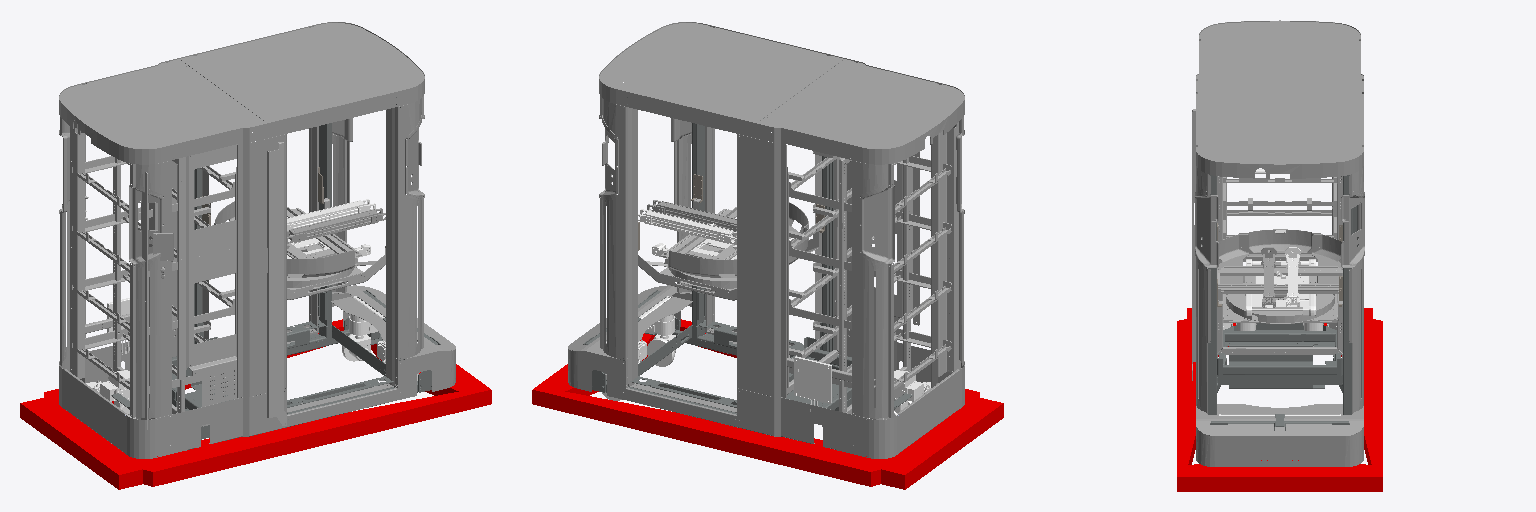
--- What the picture shows (computed from the rendered views, not written in the file) ---
Views: 3 orthographic renders of the robot side by side, from view 1: azimuth 30°, elevation 25°; view 2: azimuth 150°, elevation 25°; view 3: azimuth 270°, elevation 25°.
Model soto_2_0_description with 99 links and 98 joints (2 revolute, 12 continuous, 10 prismatic, 74 fixed), rooted at base_footprint, posed joints at zero except 7 at the middle of their limits (vertical_axis = 1.16, gripper_base_x = 0.1805, gripper_y_right = 0.25, gripper_y_left = 0.25, press_jaw = 0.1155, press_base_to_jaw_right = 0.1155, +1 more).
Visible links, largest first — view 1: design_elements_link, backpack_base_link, laser_field_link, manipulator_base_link, base_link, gripper_carrier_frame_link, backpack_layer_1_base_link, backpack_layer_3_base_link, gripper_casing_link, backpack_layer_0_base_link, conveyor_belt_right_base_link, backpack_layer_2_base_link (+3 smaller); view 2: design_elements_link, laser_field_link, backpack_base_link, manipulator_base_link, base_link, backpack_layer_2_base_link, backpack_layer_1_base_link, gripper_carrier_frame_link, backpack_layer_3_base_link, gripper_casing_link, backpack_layer_0_base_link, charger_connector (+4 smaller); view 3: design_elements_link, laser_field_link, base_link, manipulator_base_link, gripper_casing_link, backpack_base_link, gripper_carrier_frame_link, gripper_lateral_frame_link, gripper_base_link, backpack_layer_2_base_link, backpack_layer_1_base_link, conveyor_belt_left_base_link (+1 smaller).
Boxes of the visible links, x1,y1,x2,y2 form: design_elements_link: [59, 22, 455, 458]; backpack_base_link: [70, 121, 286, 429]; laser_field_link: [20, 319, 491, 489]; manipulator_base_link: [189, 66, 404, 419]; base_link: [111, 290, 440, 439]; gripper_carrier_frame_link: [287, 198, 385, 299]; backpack_layer_1_base_link: [72, 257, 234, 334]; backpack_layer_3_base_link: [72, 156, 235, 220]; gripper_casing_link: [214, 201, 354, 277]; backpack_layer_0_base_link: [72, 314, 227, 393]; conveyor_belt_right_base_link: [287, 208, 385, 243]; backpack_layer_2_base_link: [72, 197, 210, 276]; design_elements_link: [568, 22, 964, 458]; laser_field_link: [532, 319, 1003, 489]; backpack_base_link: [771, 122, 961, 419]; manipulator_base_link: [619, 66, 834, 420]; base_link: [583, 290, 912, 414]; backpack_layer_2_base_link: [789, 197, 951, 276]; backpack_layer_1_base_link: [789, 256, 951, 331]; gripper_carrier_frame_link: [638, 198, 820, 300]; backpack_layer_3_base_link: [788, 151, 951, 213]; gripper_casing_link: [669, 202, 808, 277]; backpack_layer_0_base_link: [789, 314, 951, 389]; charger_connector: [794, 356, 831, 411]; design_elements_link: [1195, 20, 1364, 466]; laser_field_link: [1177, 308, 1382, 491]; base_link: [1210, 323, 1349, 430]; manipulator_base_link: [1196, 92, 1357, 414]; gripper_casing_link: [1217, 229, 1342, 283]; backpack_base_link: [1192, 109, 1342, 380]; gripper_carrier_frame_link: [1219, 276, 1342, 323]; gripper_lateral_frame_link: [1217, 266, 1342, 295]; gripper_base_link: [1246, 259, 1315, 315]; backpack_layer_2_base_link: [1223, 177, 1336, 210]; backpack_layer_1_base_link: [1223, 210, 1336, 261]; conveyor_belt_left_base_link: [1286, 254, 1299, 307].
Bounding box of the posed robot: 2.52 × 1.3 × 2.16 m (x, y, z).
Meshes: 46 distinct files referenced, 50 mesh visuals loaded (38 binary STL); not drawn: 8 (reference not matched to a file when rendering).

The robot description file, URDF, robot "soto_2_0_description":
<?xml version="1.0" encoding="utf-8"?>
<!-- =================================================================================== -->
<!-- |    This document was autogenerated by xacro from description.xacro              | -->
<!-- |    EDITING THIS FILE BY HAND IS NOT RECOMMENDED                                 | -->
<!-- =================================================================================== -->
<robot name="soto_2_0_description">
  <joint name="pcw_fl_virtual" type="fixed">
    <origin rpy="0 0 0" xyz="0 0 0"/>
    <parent link="pcw_fl"/>
    <child link="pcw_fl_base_link"/>
  </joint>
  <link name="pcw_fl_base_link">
    <inertial>
      <origin rpy="0 0 0" xyz="0.068676 0.000080 0.060449"/>
      <mass value="5"/>
      <inertia ixx="0.01386833" ixy="0" ixz="0" iyy="0.02433708" iyz="0" izz="0.02455208"/>
    </inertial>
    <visual>
      <origin rpy="0 0 0" xyz="0 0 0"/>
      <geometry>
        <mesh filename="package://neobotix_pcw_description/meshes/pcw_base_link.STL"/>
      </geometry>
      <material name="">
        <color rgba="1 1 1 1"/>
      </material>
    </visual>
    <collision>
      <origin rpy="0 0 0" xyz="0.0525 0 0.064"/>
      <geometry>
        <box size="0.20500 0.12000 0.12800"/>
      </geometry>
    </collision>
  </link>
  <link name="pcw_fl_rotate_link">
    <inertial>
      <origin rpy="0 0 0" xyz="0 -0.013786 -0.098176"/>
      <mass value="4"/>
      <inertia ixx="0.01374714" ixy="0" ixz="0" iyy="0.01447043" iyz="0" izz="0.00734337"/>
    </inertial>
    <visual>
      <origin rpy="0 0 0" xyz="0 0 0"/>
      <geometry>
        <mesh filename="package://neobotix_pcw_description/meshes/pcw_rotate_link.STL"/>
      </geometry>
      <material name="">
        <color rgba="1 1 1 1"/>
      </material>
    </visual>
    <collision>
      <origin rpy="0 0 0" xyz="0 -0.013025 -0.107975"/>
      <geometry>
        <box size="0.11000 0.08400 0.1388"/>
      </geometry>
    </collision>
  </link>
  <joint name="fl_caster_rotation_joint" type="continuous">
    <origin rpy="0 0 -3.14159265358979" xyz="0.095 0 0"/>
    <parent link="pcw_fl_base_link"/>
    <child link="pcw_fl_rotate_link"/>
    <axis xyz="0 0 1"/>
  </joint>
  <link name="pcw_fl_wheel_link">
    <inertial>
      <origin rpy="0 0 0" xyz="0 0 0"/>
      <mass value="1"/>
      <inertia ixx="0.00209476" ixy="0.0" ixz="0.0" iyy="0.00403952" iyz="0.0" izz="0.00209476"/>
    </inertial>
    <visual>
      <origin rpy="0 0 0" xyz="0 0 0"/>
      <geometry>
        <mesh filename="package://neobotix_pcw_description/meshes/pcw_wheel_link.STL"/>
      </geometry>
      <material name="">
        <color rgba="1 1 1 1"/>
      </material>
    </visual>
    <collision>
      <origin rpy="1.57079632679 0 0" xyz="0 0 0"/>
      <geometry>
        <cylinder length="0.03" radius="0.0898835"/>
      </geometry>
    </collision>
  </link>
  <joint name="fl_caster_r_wheel_joint" type="continuous">
    <origin rpy="-9.63831971360485E-17 -2.77555756156289E-17 -9.28601314642794E-17" xyz="0 0.044649999999999 -0.12195"/>
    <parent link="pcw_fl_rotate_link"/>
    <child link="pcw_fl_wheel_link"/>
    <axis xyz="0 1 0"/>
  </joint>
  <joint name="pcw_fr_virtual" type="fixed">
    <origin rpy="0 0 0" xyz="0 0 0"/>
    <parent link="pcw_fr"/>
    <child link="pcw_fr_base_link"/>
  </joint>
  <link name="pcw_fr_base_link">
    <inertial>
      <origin rpy="0 0 0" xyz="0.068676 0.000080 0.060449"/>
      <mass value="5"/>
      <inertia ixx="0.01386833" ixy="0" ixz="0" iyy="0.02433708" iyz="0" izz="0.02455208"/>
    </inertial>
    <visual>
      <origin rpy="0 0 0" xyz="0 0 0"/>
      <geometry>
        <mesh filename="package://neobotix_pcw_description/meshes/pcw_base_link.STL"/>
      </geometry>
      <material name="">
        <color rgba="1 1 1 1"/>
      </material>
    </visual>
    <collision>
      <origin rpy="0 0 0" xyz="0.0525 0 0.064"/>
      <geometry>
        <box size="0.20500 0.12000 0.12800"/>
      </geometry>
    </collision>
  </link>
  <link name="pcw_fr_rotate_link">
    <inertial>
      <origin rpy="0 0 0" xyz="0 -0.013786 -0.098176"/>
      <mass value="4"/>
      <inertia ixx="0.01374714" ixy="0" ixz="0" iyy="0.01447043" iyz="0" izz="0.00734337"/>
    </inertial>
    <visual>
      <origin rpy="0 0 0" xyz="0 0 0"/>
      <geometry>
        <mesh filename="package://neobotix_pcw_description/meshes/pcw_rotate_link.STL"/>
      </geometry>
      <material name="">
        <color rgba="1 1 1 1"/>
      </material>
    </visual>
    <collision>
      <origin rpy="0 0 0" xyz="0 -0.013025 -0.107975"/>
      <geometry>
        <box size="0.11000 0.08400 0.1388"/>
      </geometry>
    </collision>
  </link>
  <joint name="fr_caster_rotation_joint" type="continuous">
    <origin rpy="0 0 -3.14159265358979" xyz="0.095 0 0"/>
    <parent link="pcw_fr_base_link"/>
    <child link="pcw_fr_rotate_link"/>
    <axis xyz="0 0 1"/>
  </joint>
  <link name="pcw_fr_wheel_link">
    <inertial>
      <origin rpy="0 0 0" xyz="0 0 0"/>
      <mass value="1"/>
      <inertia ixx="0.00209476" ixy="0.0" ixz="0.0" iyy="0.00403952" iyz="0.0" izz="0.00209476"/>
    </inertial>
    <visual>
      <origin rpy="0 0 0" xyz="0 0 0"/>
      <geometry>
        <mesh filename="package://neobotix_pcw_description/meshes/pcw_wheel_link.STL"/>
      </geometry>
      <material name="">
        <color rgba="1 1 1 1"/>
      </material>
    </visual>
    <collision>
      <origin rpy="1.57079632679 0 0" xyz="0 0 0"/>
      <geometry>
        <cylinder length="0.03" radius="0.0898835"/>
      </geometry>
    </collision>
  </link>
  <joint name="fr_caster_r_wheel_joint" type="continuous">
    <origin rpy="-9.63831971360485E-17 -2.77555756156289E-17 -9.28601314642794E-17" xyz="0 0.044649999999999 -0.12195"/>
    <parent link="pcw_fr_rotate_link"/>
    <child link="pcw_fr_wheel_link"/>
    <axis xyz="0 1 0"/>
  </joint>
  <joint name="pcw_bl_virtual" type="fixed">
    <origin rpy="0 0 0" xyz="0 0 0"/>
    <parent link="pcw_bl"/>
    <child link="pcw_bl_base_link"/>
  </joint>
  <link name="pcw_bl_base_link">
    <inertial>
      <origin rpy="0 0 0" xyz="0.068676 0.000080 0.060449"/>
      <mass value="5"/>
      <inertia ixx="0.01386833" ixy="0" ixz="0" iyy="0.02433708" iyz="0" izz="0.02455208"/>
    </inertial>
    <visual>
      <origin rpy="0 0 0" xyz="0 0 0"/>
      <geometry>
        <mesh filename="package://neobotix_pcw_description/meshes/pcw_base_link.STL"/>
      </geometry>
      <material name="">
        <color rgba="1 1 1 1"/>
      </material>
    </visual>
    <collision>
      <origin rpy="0 0 0" xyz="0.0525 0 0.064"/>
      <geometry>
        <box size="0.20500 0.12000 0.12800"/>
      </geometry>
    </collision>
  </link>
  <link name="pcw_bl_rotate_link">
    <inertial>
      <origin rpy="0 0 0" xyz="0 -0.013786 -0.098176"/>
      <mass value="4"/>
      <inertia ixx="0.01374714" ixy="0" ixz="0" iyy="0.01447043" iyz="0" izz="0.00734337"/>
    </inertial>
    <visual>
      <origin rpy="0 0 0" xyz="0 0 0"/>
      <geometry>
        <mesh filename="package://neobotix_pcw_description/meshes/pcw_rotate_link.STL"/>
      </geometry>
      <material name="">
        <color rgba="1 1 1 1"/>
      </material>
    </visual>
    <collision>
      <origin rpy="0 0 0" xyz="0 -0.013025 -0.107975"/>
      <geometry>
        <box size="0.11000 0.08400 0.1388"/>
      </geometry>
    </collision>
  </link>
  <joint name="bl_caster_rotation_joint" type="continuous">
    <origin rpy="0 0 -3.14159265358979" xyz="0.095 0 0"/>
    <parent link="pcw_bl_base_link"/>
    <child link="pcw_bl_rotate_link"/>
    <axis xyz="0 0 1"/>
  </joint>
  <link name="pcw_bl_wheel_link">
    <inertial>
      <origin rpy="0 0 0" xyz="0 0 0"/>
      <mass value="1"/>
      <inertia ixx="0.00209476" ixy="0.0" ixz="0.0" iyy="0.00403952" iyz="0.0" izz="0.00209476"/>
    </inertial>
    <visual>
      <origin rpy="0 0 0" xyz="0 0 0"/>
      <geometry>
        <mesh filename="package://neobotix_pcw_description/meshes/pcw_wheel_link.STL"/>
      </geometry>
      <material name="">
        <color rgba="1 1 1 1"/>
      </material>
    </visual>
    <collision>
      <origin rpy="1.57079632679 0 0" xyz="0 0 0"/>
      <geometry>
        <cylinder length="0.03" radius="0.0898835"/>
      </geometry>
    </collision>
  </link>
  <joint name="bl_caster_r_wheel_joint" type="continuous">
    <origin rpy="-9.63831971360485E-17 -2.77555756156289E-17 -9.28601314642794E-17" xyz="0 0.044649999999999 -0.12195"/>
    <parent link="pcw_bl_rotate_link"/>
    <child link="pcw_bl_wheel_link"/>
    <axis xyz="0 -1 0"/>
  </joint>
  <joint name="pcw_br_virtual" type="fixed">
    <origin rpy="0 0 0" xyz="0 0 0"/>
    <parent link="pcw_br"/>
    <child link="pcw_br_base_link"/>
  </joint>
  <link name="pcw_br_base_link">
    <inertial>
      <origin rpy="0 0 0" xyz="0.068676 0.000080 0.060449"/>
      <mass value="5"/>
      <inertia ixx="0.01386833" ixy="0" ixz="0" iyy="0.02433708" iyz="0" izz="0.02455208"/>
    </inertial>
    <visual>
      <origin rpy="0 0 0" xyz="0 0 0"/>
      <geometry>
        <mesh filename="package://neobotix_pcw_description/meshes/pcw_base_link.STL"/>
      </geometry>
      <material name="">
        <color rgba="1 1 1 1"/>
      </material>
    </visual>
    <collision>
      <origin rpy="0 0 0" xyz="0.0525 0 0.064"/>
      <geometry>
        <box size="0.20500 0.12000 0.12800"/>
      </geometry>
    </collision>
  </link>
  <link name="pcw_br_rotate_link">
    <inertial>
      <origin rpy="0 0 0" xyz="0 -0.013786 -0.098176"/>
      <mass value="4"/>
      <inertia ixx="0.01374714" ixy="0" ixz="0" iyy="0.01447043" iyz="0" izz="0.00734337"/>
    </inertial>
    <visual>
      <origin rpy="0 0 0" xyz="0 0 0"/>
      <geometry>
        <mesh filename="package://neobotix_pcw_description/meshes/pcw_rotate_link.STL"/>
      </geometry>
      <material name="">
        <color rgba="1 1 1 1"/>
      </material>
    </visual>
    <collision>
      <origin rpy="0 0 0" xyz="0 -0.013025 -0.107975"/>
      <geometry>
        <box size="0.11000 0.08400 0.1388"/>
      </geometry>
    </collision>
  </link>
  <joint name="br_caster_rotation_joint" type="continuous">
    <origin rpy="0 0 -3.14159265358979" xyz="0.095 0 0"/>
    <parent link="pcw_br_base_link"/>
    <child link="pcw_br_rotate_link"/>
    <axis xyz="0 0 1"/>
  </joint>
  <link name="pcw_br_wheel_link">
    <inertial>
      <origin rpy="0 0 0" xyz="0 0 0"/>
      <mass value="1"/>
      <inertia ixx="0.00209476" ixy="0.0" ixz="0.0" iyy="0.00403952" iyz="0.0" izz="0.00209476"/>
    </inertial>
    <visual>
      <origin rpy="0 0 0" xyz="0 0 0"/>
      <geometry>
        <mesh filename="package://neobotix_pcw_description/meshes/pcw_wheel_link.STL"/>
      </geometry>
      <material name="">
        <color rgba="1 1 1 1"/>
      </material>
    </visual>
    <collision>
      <origin rpy="1.57079632679 0 0" xyz="0 0 0"/>
      <geometry>
        <cylinder length="0.03" radius="0.0898835"/>
      </geometry>
    </collision>
  </link>
  <joint name="br_caster_r_wheel_joint" type="continuous">
    <origin rpy="-9.63831971360485E-17 -2.77555756156289E-17 -9.28601314642794E-17" xyz="0 0.044649999999999 -0.12195"/>
    <parent link="pcw_br_rotate_link"/>
    <child link="pcw_br_wheel_link"/>
    <axis xyz="0 -1 0"/>
  </joint>
  <link name="base_footprint"/>
  <joint name="base_footprint_to_base" type="fixed">
    <!-- TODO: align base_footprint to ground plane in 1015001 -->
    <origin rpy="0 0 0" xyz="0 0 0.1815"/>
    <parent link="base_footprint"/>
    <child link="base_link"/>
  </joint>
  <!-- start of autogenerated component -->
  <link name="base_link">
    <inertial>
      <origin rpy="0 0 0" xyz="-0.030858267467835 0.000734792595130519 -0.0262663159827579"/>
      <mass value="63.5292905960047"/>
      <inertia ixx="3.63597230656031" ixy="0.026575132004481" ixz="0.167726202587328" iyy="26.1224110628601" iyz="6.86288099105268E-05" izz="29.4697351846051"/>
    </inertial>
    <visual>
      <origin rpy="0 0 0" xyz="0 0 0"/>
      <geometry>
        <mesh filename="package://drive_base_soto_2_0_description/meshes/base_link.STL"/>
      </geometry>
      <material name="">
        <color rgba="0.529411764705882 0.549019607843137 0.549019607843137 1"/>
      </material>
    </visual>
    <collision>
      <origin rpy="0 0 0" xyz="0 0 0"/>
      <geometry>
        <mesh filename="package://drive_base_soto_2_0_description/meshes/base_link.STL"/>
      </geometry>
    </collision>
  </link>
  <link name="base_front_laser_link">
    <inertial>
      <origin rpy="0 0 0" xyz="-0.00302048772057795 -5.96143926624228E-05 0.0421733483270551"/>
      <mass value="1.31397168795335"/>
      <inertia ixx="0.000305638553073255" ixy="-9.97956652050864E-07" ixz="0.000141592688769949" iyy="0.000380355250516333" iyz="2.14415572558052E-06" izz="7.51377511329644E-05"/>
    </inertial>
    <visual>
      <origin rpy="0 0 0" xyz="0 0 0"/>
      <geometry>
        <mesh filename="package://drive_base_soto_2_0_description/meshes/base_front_laser_link.STL"/>
      </geometry>
      <material name="">
        <color rgba="1 1 1 1"/>
      </material>
    </visual>
    <collision>
      <origin rpy="0 0 0" xyz="0 0 0.0353"/>
      <geometry>
        <cylinder length="0.150512" radius="0.05"/>
      </geometry>
    </collision>
  </link>
  <joint name="base_to_front_laser" type="fixed">
    <origin rpy="3.14159265359 0 0" xyz="0.861737079408169 0 -0.0615749999999948"/>
    <parent link="base_link"/>
    <child link="base_front_laser_link"/>
    <axis xyz="0 0 0"/>
  </joint>
  <link name="base_rear_laser_right_link">
    <inertial>
      <origin rpy="0 0 0" xyz="-0.00302055406980495 -5.95917334884066E-05 0.0421734134136776"/>
      <mass value="1.31397215019182"/>
      <inertia ixx="0.000305637939313287" ixy="-9.98004178283187E-07" ixz="0.0001415922231505" iyy="0.000380354330003911" iyz="2.14425615271607E-06" izz="7.51374470666478E-05"/>
    </inertial>
    <visual>
      <origin rpy="0 0 0" xyz="0 0 0"/>
      <geometry>
        <mesh filename="package://drive_base_soto_2_0_description/meshes/base_rear_laser_right_link.STL"/>
      </geometry>
      <material name="">
        <color rgba="1 1 1 1"/>
      </material>
    </visual>
    <collision>
      <origin rpy="0 0 0" xyz="0 0 0.0353"/>
      <geometry>
        <cylinder length="0.150512" radius="0.05"/>
      </geometry>
    </collision>
  </link>
  <joint name="base_to_rear_right_laser" type="fixed">
    <origin rpy="3.14159265359 0 -2.35619449019234" xyz="-0.958782741924265 -0.36988960664894 -0.0615658394487754"/>
    <parent link="base_link"/>
    <child link="base_rear_laser_right_link"/>
    <axis xyz="0 0 0"/>
  </joint>
  <link name="base_rear_laser_left_link">
    <inertial>
      <origin rpy="0 0 0" xyz="-0.0030205540702416 -5.95917329817564E-05 0.0421734134135134"/>
      <mass value="1.31397215017044"/>
      <inertia ixx="0.00030563793931515" ixy="-9.98004179429839E-07" ixz="0.000141592223148923" iyy="0.000380354330003797" iyz="2.14425615513367E-06" izz="7.51374470647395E-05"/>
    </inertial>
    <visual>
      <origin rpy="0 0 0" xyz="0 0 0"/>
      <geometry>
        <mesh filename="package://drive_base_soto_2_0_description/meshes/base_rear_laser_left_link.STL"/>
      </geometry>
      <material name="">
        <color rgba="1 1 1 1"/>
      </material>
    </visual>
    <collision>
      <origin rpy="0 0 0" xyz="0 0 0.0353"/>
      <geometry>
        <cylinder length="0.150512" radius="0.05"/>
      </geometry>
    </collision>
  </link>
  <joint name="base_to_rear_left_laser" type="fixed">
    <origin rpy="3.14159265359 0 2.35619449019234" xyz="-0.958782747939142 0.369889600634062 -0.0615658394487751"/>
    <parent link="base_link"/>
    <child link="base_rear_laser_left_link"/>
    <axis xyz="0 0 0"/>
  </joint>
  <link name="pcw_bl">
    <!-- Assumes a (size, size, size) cube link -->
    <inertial>
      <origin xyz="0 0 0"/>
      <mass value="1"/>
      <inertia ixx="0.00166666666667" ixy="0" ixz="0" iyy="0.00166666666667" iyz="0" izz="0.00166666666667"/>
    </inertial>
  </link>
  <joint name="base_to_pcw_bl" type="fixed">
    <origin rpy="0 0 0" xyz="-0.916499999999999 0.2125 0.0304250000000063"/>
    <parent link="base_link"/>
    <child link="pcw_bl"/>
    <axis xyz="0 0 0"/>
  </joint>
  <link name="pcw_br">
    <!-- Assumes a (size, size, size) cube link -->
    <inertial>
      <origin xyz="0 0 0"/>
      <mass value="1"/>
      <inertia ixx="0.00166666666667" ixy="0" ixz="0" iyy="0.00166666666667" iyz="0" izz="0.00166666666667"/>
    </inertial>
  </link>
  <joint name="base_to_pcw_br" type="fixed">
    <origin rpy="0 0 -2.52323414687536E-16" xyz="-0.916499999999999 -0.2125 0.0304250000000063"/>
    <parent link="base_link"/>
    <child link="pcw_br"/>
    <axis xyz="0 0 0"/>
  </joint>
  <link name="pcw_fr">
    <!-- Assumes a (size, size, size) cube link -->
    <inertial>
      <origin xyz="0 0 0"/>
      <mass value="1"/>
      <inertia ixx="0.00166666666667" ixy="0" ixz="0" iyy="0.00166666666667" iyz="0" izz="0.00166666666667"/>
    </inertial>
  </link>
  <joint name="base_to_pcw_fr" type="fixed">
    <origin rpy="0 0 3.14159265358979" xyz="0.916499999999998 -0.280000000000002 0.0304250000000052"/>
    <parent link="base_link"/>
    <child link="pcw_fr"/>
    <axis xyz="0 0 0"/>
  </joint>
  <link name="pcw_fl">
    <!-- Assumes a (size, size, size) cube link -->
    <inertial>
      <origin xyz="0 0 0"/>
      <mass value="1"/>
      <inertia ixx="0.00166666666667" ixy="0" ixz="0" iyy="0.00166666666667" iyz="0" izz="0.00166666666667"/>
    </inertial>
  </link>
  <joint name="base_to_pcw_fl" type="fixed">
    <origin rpy="0 0 3.14159265358979" xyz="0.916499999999998 0.279999999999998 0.0304250000000052"/>
    <parent link="base_link"/>
    <child link="pcw_fl"/>
    <axis xyz="0 0 0"/>
  </joint>
  <link name="laser_field_link">
    <!-- Assumes a (size, size, size) cube link -->
    <inertial>
      <origin xyz="0 0 0"/>
      <mass value="1"/>
      <inertia ixx="0.00166666666667" ixy="0" ixz="0" iyy="0.00166666666667" iyz="0" izz="0.00166666666667"/>
    </inertial>
    <visual>
      <origin rpy="0 0 0" xyz="0 0 0"/>
      <geometry>
        <mesh filename="package://drive_base_soto_2_0_description/meshes/laser_field_link.STL"/>
      </geometry>
      <material name="">
        <color rgba="1 0 0 0.5"/>
      </material>
    </visual>
    <collision>
      <origin rpy="0 0 0" xyz="0 0 0"/>
      <geometry>
        <mesh filename="package://drive_base_soto_2_0_description/meshes/laser_field_link.STL"/>
      </geometry>
    </collision>
  </link>
  <joint name="base_to_laser_field" type="fixed">
    <origin rpy="0 0 0" xyz="0 0 0"/>
    <parent link="base_link"/>
    <child link="laser_field_link"/>
    <axis xyz="0 0 0"/>
  </joint>
  <joint name="manipulator_base_to_base_link" type="fixed">
    <origin rpy="0 0 0" xyz="0.2365 0 -0.0385"/>
    <parent link="base_link"/>
    <child link="manipulator_base_link"/>
  </joint>
  <link name="gripper_carrier_frame_link">
    <inertial>
      <origin rpy="0 0 0" xyz="0.419871261985957 -0.378092873023538 -0.172763052387008"/>
      <mass value="22.6544046182285"/>
      <inertia ixx="0.000978681072360067" ixy="5.36158454747139E-06" ixz="5.72288391326164E-05" iyy="0.212674313369314" iyz="-4.50383372113037E-05" izz="0.211729185697808"/>
    </inertial>
    <visual>
      <origin rpy="0 0 0" xyz="0 0 0"/>
      <geometry>
        <mesh filename="package://vertical_axis_soto_2_0_description/meshes/gripper_carrier_frame_link.STL"/>
      </geometry>
      <material name="">
        <color rgba="0.752941176470588 0.752941176470588 0.752941176470588 1"/>
      </material>
    </visual>
    <collision>
      <origin rpy="0 0 0" xyz="0 0 0"/>
      <geometry>
        <mesh filename="package://vertical_axis_soto_2_0_description/meshes/gripper_carrier_frame_link.STL"/>
      </geometry>
    </collision>
  </link>
  <joint name="vertical_axis_to_carrier_frame" type="fixed">
    <origin rpy="0 0 0" xyz="0 0 0.2565"/>
    <parent link="vertical_axis_link"/>
    <child link="gripper_carrier_frame_link"/>
  </joint>
  <!-- start of Optical frames -->
  <link name="nav_3d_cam_front_depth_optical_frame"/>
  <joint name="nav_3d_cam_front_depth_optical" type="fixed">
    <origin rpy="0 0 0" xyz="0 0 0"/>
    <parent link="nav_3d_cam_front_link"/>
    <child link="nav_3d_cam_front_depth_optical_frame"/>
  </joint>
  <link name="nav_3d_cam_front_rgb_optical_frame"/>
  <joint name="nav_3d_cam_front_rgb_optical" type="fixed">
    <origin rpy="0 0 0" xyz="0.0145 0 0"/>
    <parent link="nav_3d_cam_front_link"/>
    <child link="nav_3d_cam_front_rgb_optical_frame"/>
  </joint>
  <!-- Start of autogenerated component -->
  <link name="manipulator_base_link">
    <inertial>
      <origin rpy="0 0 0" xyz="0.0140831490754253 -0.0103314828835449 1.03628074208567"/>
      <mass value="49.4957057836692"/>
      <inertia ixx="28.4337696303107" ixy="0.170730173040725" ixz="0.770352253194218" iyy="27.3913289655028" iyz="0.419406036104634" izz="15.9885561853555"/>
    </inertial>
    <visual>
      <origin rpy="0 0 0" xyz="0 0 0"/>
      <geometry>
        <mesh filename="package://vertical_axis_soto_2_0_description/meshes/manipulator_base_link.STL"/>
      </geometry>
      <material name="">
        <color rgba="0.529411764705882 0.549019607843137 0.549019607843137 1"/>
      </material>
    </visual>
    <collision>
      <origin rpy="0 0 0" xyz="0 0 0"/>
      <geometry>
        <mesh filename="package://vertical_axis_soto_2_0_description/meshes/manipulator_base_link.STL"/>
      </geometry>
    </collision>
  </link>
  <link name="vertical_axis_link">
    <inertial>
      <origin rpy="0 0 0" xyz="0.420000000000104 -0.147165343803046 0.0668738949005537"/>
      <mass value="4.67274949695533"/>
      <inertia ixx="0.605491366340649" ixy="-1.6991963391888E-13" ixz="2.22521653880925E-14" iyy="0.756041439643056" iyz="-0.0117324984712755" izz="1.35863466880556"/>
    </inertial>
    <visual>
      <origin rpy="0 0 0" xyz="0 0 0.2565"/>
      <geometry>
        <mesh filename="package://vertical_axis_soto_2_0_description/meshes/vertical_axis_link.STL"/>
      </geometry>
      <material name="">
        <color rgba="0.647058823529412 0.619607843137255 0.588235294117647 1"/>
      </material>
    </visual>
    <collision>
      <origin rpy="0 0 0" xyz="0 0 0.2565"/>
      <geometry>
        <mesh filename="package://vertical_axis_soto_2_0_description/meshes/vertical_axis_link.STL"/>
      </geometry>
    </collision>
  </link>
  <joint name="vertical_axis" type="prismatic">
    <origin rpy="0 0 0" xyz="-0.420000000000075 0.381609999999924 -0.488"/>
    <parent link="manipulator_base_link"/>
    <child link="vertical_axis_link"/>
    <axis xyz="0 0 1"/>
    <limit effort="1368.21" lower="0.355" upper="1.968" velocity="0.322917"/>
  </joint>
  <link name="nav_3d_cam_front_link">
    <!-- Assumes a (size, size, size) cube link -->
    <inertial>
      <origin xyz="0 0 0"/>
      <mass value="0.018"/>
      <inertia ixx="3e-05" ixy="0" ixz="0" iyy="3e-05" iyz="0" izz="3e-05"/>
    </inertial>
  </link>
  <joint name="nav_3d_cam_front" type="fixed">
    <origin rpy="-2.50454747661185 0 -1.57079632679489" xyz="0.673539512035944 0.00661000000000513 1.92628520157743"/>
    <parent link="manipulator_base_link"/>
    <child link="nav_3d_cam_front_link"/>
    <axis xyz="0 0 0"/>
  </joint>
  <link name="light_curtain_receiver_front_link">
    <inertial>
      <origin rpy="0 0 0" xyz="-0.0134506399940098 0.000460652545141254 1.37200510917923E-05"/>
      <mass value="0.639593835683051"/>
      <inertia ixx="0.03084176" ixy="0" ixz="0" iyy="0.00013446" iyz="0" izz="0.03082808"/>
    </inertial>
    <visual>
      <origin rpy="0 0 0" xyz="0 0 0"/>
      <geometry>
        <mesh filename="package://vertical_axis_soto_2_0_description/meshes/light_curtain_receiver_front_link.STL"/>
      </geometry>
      <material name="">
        <color rgba="1 1 1 1"/>
      </material>
    </visual>
    <collision>
      <origin rpy="0 0 0" xyz="0 0 0"/>
      <geometry>
        <mesh filename="package://vertical_axis_soto_2_0_description/meshes/light_curtain_receiver_front_link.STL"/>
      </geometry>
    </collision>
  </link>
  <joint name="manipulator_base_to_receiver_front" type="fixed">
    <origin rpy="3.14159265358979 -1.5707963267949 0" xyz="0.612816314445163 0.00230001773507929 0.247218554241161"/>
    <parent link="manipulator_base_link"/>
    <child link="light_curtain_receiver_front_link"/>
    <axis xyz="0 0 0"/>
  </joint>
  <link name="light_curtain_emitter_front_link">
    <inertial>
      <origin rpy="0 0 0" xyz="-0.0134507091493998 -5.86724921519569E-05 1.27766254944817E-05"/>
      <mass value="0.639590567420819"/>
      <inertia ixx="0.03084176" ixy="0" ixz="0" iyy="0.00013446" iyz="0" izz="0.03082808"/>
    </inertial>
    <visual>
      <origin rpy="0 0 0" xyz="0 0 0"/>
      <geometry>
        <mesh filename="package://vertical_axis_soto_2_0_description/meshes/light_curtain_emitter_front_link.STL"/>
      </geometry>
      <material name="">
        <color rgba="1 1 1 1"/>
      </material>
    </visual>
    <collision>
      <origin rpy="0 0 0" xyz="0 0 0"/>
      <geometry>
        <mesh filename="package://vertical_axis_soto_2_0_description/meshes/light_curtain_emitter_front_link.STL"/>
      </geometry>
    </collision>
  </link>
  <joint name="manipulator_base_to_emitter_front" type="fixed">
    <origin rpy="-0.0336671572796617 1.57079631189374 3.10792549631013" xyz="0.613000000420853 0.00399206214091707 1.92309999999978"/>
    <parent link="manipulator_base_link"/>
    <child link="light_curtain_emitter_front_link"/>
    <axis xyz="0 0 0"/>
  </joint>
  <link name="light_curtain_receiver_left_link">
    <inertial>
      <origin rpy="0 0 0" xyz="-0.0134506399940099 0.000460652545142018 1.37200510916813E-05"/>
      <mass value="0.639593835683055"/>
      <inertia ixx="0.03084176" ixy="0" ixz="0" iyy="0.00013446" iyz="0" izz="0.03082808"/>
    </inertial>
    <visual>
      <origin rpy="0 0 0" xyz="0 0 0"/>
      <geometry>
        <mesh filename="package://vertical_axis_soto_2_0_description/meshes/light_curtain_receiver_left_link.STL"/>
      </geometry>
      <material name="">
        <color rgba="1 1 1 1"/>
      </material>
    </visual>
    <collision>
      <origin rpy="0 0 0" xyz="0 0 0"/>
      <geometry>
        <mesh filename="package://vertical_axis_soto_2_0_description/meshes/light_curtain_receiver_left_link.STL"/>
      </geometry>
    </collision>
  </link>
  <joint name="manipulator_base_to_receiver_left" type="fixed">
    <origin rpy="1.57079632679501 -1.5707963267949 0" xyz="0.0013599822863284 0.507000941267109 0.0620098761376573"/>
    <parent link="manipulator_base_link"/>
    <child link="light_curtain_receiver_left_link"/>
    <axis xyz="0 0 0"/>
  </joint>
  <link name="light_curtain_emitter_left_link">
    <inertial>
      <origin rpy="0 0 0" xyz="-0.0134507091493994 -5.8672492154189E-05 1.27766254947037E-05"/>
      <mass value="0.639590567420818"/>
      <inertia ixx="0.03084176" ixy="0" ixz="0" iyy="0.00013446" iyz="0" izz="0.03082808"/>
    </inertial>
    <visual>
      <origin rpy="0 0 0" xyz="0 0 0"/>
      <geometry>
        <mesh filename="package://vertical_axis_soto_2_0_description/meshes/light_curtain_emitter_left_link.STL"/>
      </geometry>
      <material name="">
        <color rgba="1 1 1 1"/>
      </material>
    </visual>
    <collision>
      <origin rpy="0 0 0" xyz="0 0 0"/>
      <geometry>
        <mesh filename="package://vertical_axis_soto_2_0_description/meshes/light_curtain_emitter_left_link.STL"/>
      </geometry>
    </collision>
  </link>
  <joint name="manipulator_base_to_emitter_left" type="fixed">
    <origin rpy="1.5707963267949 1.5707963267949 0" xyz="0.000842062140590042 0.50701000012157 1.92299012386215"/>
    <parent link="manipulator_base_link"/>
    <child link="light_curtain_emitter_left_link"/>
    <axis xyz="0 0 0"/>
  </joint>
  <link name="light_curtain_receiver_right_link">
    <inertial>
      <origin rpy="0 0 0" xyz="-0.0134506399940099 0.000460652545141308 1.37200510919033E-05"/>
      <mass value="0.639593835683049"/>
      <inertia ixx="0.03084176" ixy="0" ixz="0" iyy="0.00013446" iyz="0" izz="0.03082808"/>
    </inertial>
    <visual>
      <origin rpy="0 0 0" xyz="0 0 0"/>
      <geometry>
        <mesh filename="package://vertical_axis_soto_2_0_description/meshes/light_curtain_receiver_right_link.STL"/>
      </geometry>
      <material name="">
        <color rgba="1 1 1 1"/>
      </material>
    </visual>
    <collision>
      <origin rpy="0 0 0" xyz="0 0 0"/>
      <geometry>
        <mesh filename="package://vertical_axis_soto_2_0_description/meshes/light_curtain_receiver_right_link.STL"/>
      </geometry>
    </collision>
  </link>
  <joint name="manipulator_base_to_receiver_right" type="fixed">
    <origin rpy="0.032557324725479 -1.57079630572147 1.53823900206941" xyz="0.00125998228584711 -0.49899905903031 0.0620098761378208"/>
    <parent link="manipulator_base_link"/>
    <child link="light_curtain_receiver_right_link"/>
    <axis xyz="0 0 0"/>
  </joint>
  <link name="light_curtain_emitter_right_link">
    <inertial>
      <origin rpy="0 0 0" xyz="-0.0134507091493998 -5.86724921541233E-05 1.27766254945927E-05"/>
      <mass value="0.639590567420825"/>
      <inertia ixx="0.03084176" ixy="0" ixz="0" iyy="0.00013446" iyz="0" izz="0.03082808"/>
    </inertial>
    <visual>
      <origin rpy="0 0 0" xyz="0 0 0"/>
      <geometry>
        <mesh filename="package://vertical_axis_soto_2_0_description/meshes/light_curtain_emitter_right_link.STL"/>
      </geometry>
      <material name="">
        <color rgba="1 1 1 1"/>
      </material>
    </visual>
    <collision>
      <origin rpy="0 0 0" xyz="0 0 0"/>
      <geometry>
        <mesh filename="package://vertical_axis_soto_2_0_description/meshes/light_curtain_emitter_right_link.STL"/>
      </geometry>
    </collision>
  </link>
  <joint name="manipulator_base_to_emitter_right" type="fixed">
    <origin rpy="1.5707963267949 1.5707963267949 0" xyz="0.00074206213964603 -0.499000000420611 1.92299012386212"/>
    <parent link="manipulator_base_link"/>
    <child link="light_curtain_emitter_right_link"/>
    <axis xyz="0 0 0"/>
  </joint>
  <joint name="backpack_base_to_base_link" type="fixed">
    <origin rpy="0 0 0" xyz="-0.294 0 0.0885"/>
    <parent link="base_link"/>
    <child link="backpack_base_link"/>
  </joint>
  <!-- use index to uniquely identify all joints and links  -->
  <link name="backpack_layer_0_base_link">
    <inertial>
      <origin rpy="0 0 0" xyz="-0.288351 0 -0.056443"/>
      <mass value="5"/>
      <inertia ixx="0.25636833" ixy="0" ixz="0" iyy="0.30238167" iyz="0" izz="0.55041667"/>
    </inertial>
    <visual>
      <origin rpy="0 0 0" xyz="0 0 0"/>
      <geometry>
        <mesh filename="package://backpack_soto_4_0_description/meshes/layer_base_link.STL"/>
      </geometry>
      <material name="">
        <color rgba="0.752941176470588 0.752941176470588 0.752941176470588 1"/>
      </material>
    </visual>
    <collision>
      <origin rpy="0 0 0" xyz="0 0 0"/>
      <geometry>
        <mesh filename="package://backpack_soto_4_0_description/meshes/layer_base_link.STL"/>
      </geometry>
    </collision>
  </link>
  <!-- left reference exists for both single and double compartments -->
  <link name="backpack_layer_0_left_reference_link"/>
  <joint name="backpack_layer_0_base_to_left_reference" type="fixed">
    <origin rpy="0 0 0" xyz="0.1286 -0.185 -0.0236"/>
    <parent link="backpack_layer_0_base_link"/>
    <child link="backpack_layer_0_left_reference_link"/>
    <axis xyz="0 0 0"/>
  </joint>
  <!-- create right reference-->
  <link name="backpack_layer_0_right_reference_link"/>
  <joint name="backpack_layer_0_base_to_right_reference" type="fixed">
    <origin rpy="0 0 0" xyz="0.1286 0.185 -0.0236"/>
    <parent link="backpack_layer_0_base_link"/>
    <child link="backpack_layer_0_right_reference_link"/>
    <axis xyz="0 0 0"/>
  </joint>
  <link name="backpack_layer_0_compartment_0_link">
    <inertial>
      <origin rpy="0 0 0" xyz="-0.1675 0 0.0675"/>
      <mass value="5"/>
      <inertia ixx="0.0476354166667" ixy="0" ixz="0" iyy="0.0543541666667" iyz="0" izz="0.0868020833333"/>
    </inertial>
    <collision>
      <!-- Bottom -->
      <origin rpy="0 0 0" xyz="-0.1675 0 -0.0025"/>
      <geometry>
        <box size="0.335 0.31 0.005"/>
      </geometry>
    </collision>
    <collision>
      <!-- Back wall -->
      <origin rpy="0 0 0" xyz="-0.3375 0 0.025"/>
      <geometry>
        <box size="0.005 0.31 0.05"/>
      </geometry>
    </collision>
    <collision>
      <!-- Right wall -->
      <origin rpy="0 0 0" xyz="-0.2015 -0.1575 0.025"/>
      <geometry>
        <box size="0.267 0.005 0.05"/>
      </geometry>
    </collision>
    <collision>
      <!-- Left wall -->
      <origin rpy="0 0 0" xyz="-0.2015 0.1575 0.025"/>
      <geometry>
        <box size="0.267 0.005 0.05"/>
      </geometry>
    </collision>
    <collision>
      <!-- Left stopper bottom -->
      <origin rpy="0 0 0" xyz="0.05 0 -0.0025"/>
      <geometry>
        <box size="0.1 0.03 0.005"/>
      </geometry>
    </collision>
    <collision>
      <!-- Left stopper wall -->
      <origin rpy="0 0 0" xyz="0.1025 0 0.0095"/>
      <geometry>
        <box size="0.005 0.03 0.019"/>
      </geometry>
    </collision>
    <collision>
      <!-- Right funnel -->
      <origin rpy="0 0 -0.335" xyz="-0.0356438458494 -0.16853917755 0.0675"/>
      <geometry>
        <box size="0.068 0.005 0.135"/>
      </geometry>
    </collision>
    <collision>
      <!-- Left funnel -->
      <origin rpy="0 0 0.335" xyz="-0.0356438458494 0.16853917755 0.0675"/>
      <geometry>
        <box size="0.068 0.005 0.135"/>
      </geometry>
    </collision>
  </link>
  <joint name="backpack_layer_0_compartment_0" type="fixed">
    <origin rpy="0 0 0" xyz="-0.1055 0 -0.004"/>
    <parent link="backpack_layer_0_left_reference_link"/>
    <child link="backpack_layer_0_compartment_0_link"/>
  </joint>
  <link name="backpack_layer_0_compartment_1_link">
    <inertial>
      <origin rpy="0 0 0" xyz="-0.3675 0 0.0675"/>
      <mass value="5"/>
      <inertia ixx="0.0476354166667" ixy="0" ixz="0" iyy="0.2326875" iyz="0" izz="0.265135416667"/>
    </inertial>
    <collision>
      <!-- Bottom -->
      <origin rpy="0 0 0" xyz="-0.3675 0 -0.0025"/>
      <geometry>
        <box size="0.735 0.31 0.005"/>
      </geometry>
    </collision>
    <collision>
      <!-- Back wall -->
      <origin rpy="0 0 0" xyz="-0.7375 0 0.025"/>
      <geometry>
        <box size="0.005 0.31 0.05"/>
      </geometry>
    </collision>
    <collision>
      <!-- Right wall -->
      <origin rpy="0 0 0" xyz="-0.4015 -0.1575 0.025"/>
      <geometry>
        <box size="0.667 0.005 0.05"/>
      </geometry>
    </collision>
    <collision>
      <!-- Left wall -->
      <origin rpy="0 0 0" xyz="-0.4015 0.1575 0.025"/>
      <geometry>
        <box size="0.667 0.005 0.05"/>
      </geometry>
    </collision>
    <collision>
      <!-- Left stopper bottom -->
      <origin rpy="0 0 0" xyz="0.05 0 -0.0025"/>
      <geometry>
        <box size="0.1 0.03 0.005"/>
      </geometry>
    </collision>
    <collision>
      <!-- Left stopper wall -->
      <origin rpy="0 0 0" xyz="0.1025 0 0.0095"/>
      <geometry>
        <box size="0.005 0.03 0.019"/>
      </geometry>
    </collision>
    <collision>
      <!-- Right funnel -->
      <origin rpy="0 0 -0.335" xyz="-0.0356438458494 -0.16853917755 0.0675"/>
      <geometry>
        <box size="0.068 0.005 0.135"/>
      </geometry>
    </collision>
    <collision>
      <!-- Left funnel -->
      <origin rpy="0 0 0.335" xyz="-0.0356438458494 0.16853917755 0.0675"/>
      <geometry>
        <box size="0.068 0.005 0.135"/>
      </geometry>
    </collision>
  </link>
  <joint name="backpack_layer_0_compartment_1" type="fixed">
    <origin rpy="0 0 0" xyz="-0.1055 0 -0.004"/>
    <parent link="backpack_layer_0_right_reference_link"/>
    <child link="backpack_layer_0_compartment_1_link"/>
  </joint>
  <!-- Connection between layer and pivot bar -->
  <joint name="backpack_layer_0_base_pivot" type="continuous">
    <parent link="backpack_layer_0_link"/>
    <child link="backpack_layer_0_base_link"/>
    <axis xyz="0 1 0"/>
    <mimic joint="backpack_tilt" multiplier="1.0"/>
  </joint>
  <!-- use index to uniquely identify all joints and links  -->
  <link name="backpack_layer_1_base_link">
    <inertial>
      <origin rpy="0 0 0" xyz="-0.288351 0 -0.056443"/>
      <mass value="5"/>
      <inertia ixx="0.25636833" ixy="0" ixz="0" iyy="0.30238167" iyz="0" izz="0.55041667"/>
    </inertial>
    <visual>
      <origin rpy="0 0 0" xyz="0 0 0"/>
      <geometry>
        <mesh filename="package://backpack_soto_4_0_description/meshes/layer_base_link.STL"/>
      </geometry>
      <material name="">
        <color rgba="0.752941176470588 0.752941176470588 0.752941176470588 1"/>
      </material>
    </visual>
    <collision>
      <origin rpy="0 0 0" xyz="0 0 0"/>
      <geometry>
        <mesh filename="package://backpack_soto_4_0_description/meshes/layer_base_link.STL"/>
      </geometry>
    </collision>
  </link>
  <!-- left reference exists for both single and double compartments -->
  <link name="backpack_layer_1_left_reference_link"/>
  <joint name="backpack_layer_1_base_to_left_reference" type="fixed">
    <origin rpy="0 0 0" xyz="0.1286 -0.185 -0.0236"/>
    <parent link="backpack_layer_1_base_link"/>
    <child link="backpack_layer_1_left_reference_link"/>
    <axis xyz="0 0 0"/>
  </joint>
  <!-- create right reference-->
  <link name="backpack_layer_1_right_reference_link"/>
  <joint name="backpack_layer_1_base_to_right_reference" type="fixed">
    <origin rpy="0 0 0" xyz="0.1286 0.185 -0.0236"/>
    <parent link="backpack_layer_1_base_link"/>
    <child link="backpack_layer_1_right_reference_link"/>
    <axis xyz="0 0 0"/>
  </joint>
  <link name="backpack_layer_1_compartment_0_link">
    <inertial>
      <origin rpy="0 0 0" xyz="-0.3675 0 0.0675"/>
      <mass value="5"/>
      <inertia ixx="0.0476354166667" ixy="0" ixz="0" iyy="0.2326875" iyz="0" izz="0.265135416667"/>
    </inertial>
    <collision>
      <!-- Bottom -->
      <origin rpy="0 0 0" xyz="-0.3675 0 -0.0025"/>
      <geometry>
        <box size="0.735 0.31 0.005"/>
      </geometry>
    </collision>
    <collision>
      <!-- Back wall -->
      <origin rpy="0 0 0" xyz="-0.7375 0 0.025"/>
      <geometry>
        <box size="0.005 0.31 0.05"/>
      </geometry>
    </collision>
    <collision>
      <!-- Right wall -->
      <origin rpy="0 0 0" xyz="-0.4015 -0.1575 0.025"/>
      <geometry>
        <box size="0.667 0.005 0.05"/>
      </geometry>
    </collision>
    <collision>
      <!-- Left wall -->
      <origin rpy="0 0 0" xyz="-0.4015 0.1575 0.025"/>
      <geometry>
        <box size="0.667 0.005 0.05"/>
      </geometry>
    </collision>
    <collision>
      <!-- Left stopper bottom -->
      <origin rpy="0 0 0" xyz="0.05 0 -0.0025"/>
      <geometry>
        <box size="0.1 0.03 0.005"/>
      </geometry>
    </collision>
    <collision>
      <!-- Left stopper wall -->
      <origin rpy="0 0 0" xyz="0.1025 0 0.0095"/>
      <geometry>
        <box size="0.005 0.03 0.019"/>
      </geometry>
    </collision>
    <collision>
      <!-- Right funnel -->
      <origin rpy="0 0 -0.335" xyz="-0.0356438458494 -0.16853917755 0.0675"/>
      <geometry>
        <box size="0.068 0.005 0.135"/>
      </geometry>
    </collision>
    <collision>
      <!-- Left funnel -->
      <origin rpy="0 0 0.335" xyz="-0.0356438458494 0.16853917755 0.0675"/>
      <geometry>
        <box size="0.068 0.005 0.135"/>
      </geometry>
    </collision>
  </link>
  <joint name="backpack_layer_1_compartment_0" type="fixed">
    <origin rpy="0 0 0" xyz="-0.1055 0 -0.004"/>
    <parent link="backpack_layer_1_left_reference_link"/>
    <child link="backpack_layer_1_compartment_0_link"/>
  </joint>
  <link name="backpack_layer_1_compartment_1_link">
    <inertial>
      <origin rpy="0 0 0" xyz="-0.3675 0 0.0675"/>
      <mass value="5"/>
      <inertia ixx="0.0476354166667" ixy="0" ixz="0" iyy="0.2326875" iyz="0" izz="0.265135416667"/>
    </inertial>
    <collision>
      <!-- Bottom -->
      <origin rpy="0 0 0" xyz="-0.3675 0 -0.0025"/>
      <geometry>
        <box size="0.735 0.31 0.005"/>
      </geometry>
    </collision>
    <collision>
      <!-- Back wall -->
      <origin rpy="0 0 0" xyz="-0.7375 0 0.025"/>
      <geometry>
        <box size="0.005 0.31 0.05"/>
      </geometry>
    </collision>
    <collision>
      <!-- Right wall -->
      <origin rpy="0 0 0" xyz="-0.4015 -0.1575 0.025"/>
      <geometry>
        <box size="0.667 0.005 0.05"/>
      </geometry>
    </collision>
    <collision>
      <!-- Left wall -->
      <origin rpy="0 0 0" xyz="-0.4015 0.1575 0.025"/>
      <geometry>
        <box size="0.667 0.005 0.05"/>
      </geometry>
    </collision>
    <collision>
      <!-- Left stopper bottom -->
      <origin rpy="0 0 0" xyz="0.05 0 -0.0025"/>
      <geometry>
        <box size="0.1 0.03 0.005"/>
      </geometry>
    </collision>
    <collision>
      <!-- Left stopper wall -->
      <origin rpy="0 0 0" xyz="0.1025 0 0.0095"/>
      <geometry>
        <box size="0.005 0.03 0.019"/>
      </geometry>
    </collision>
    <collision>
      <!-- Right funnel -->
      <origin rpy="0 0 -0.335" xyz="-0.0356438458494 -0.16853917755 0.0675"/>
      <geometry>
        <box size="0.068 0.005 0.135"/>
      </geometry>
    </collision>
    <collision>
      <!-- Left funnel -->
      <origin rpy="0 0 0.335" xyz="-0.0356438458494 0.16853917755 0.0675"/>
      <geometry>
        <box size="0.068 0.005 0.135"/>
      </geometry>
    </collision>
  </link>
  <joint name="backpack_layer_1_compartment_1" type="fixed">
    <origin rpy="0 0 0" xyz="-0.1055 0 -0.004"/>
    <parent link="backpack_layer_1_right_reference_link"/>
    <child link="backpack_layer_1_compartment_1_link"/>
  </joint>
  <!-- Connection between layer and pivot bar -->
  <joint name="backpack_layer_1_base_pivot" type="continuous">
    <parent link="backpack_layer_1_link"/>
    <child link="backpack_layer_1_base_link"/>
    <axis xyz="0 1 0"/>
    <mimic joint="backpack_tilt" multiplier="1.0"/>
  </joint>
  <!-- use index to uniquely identify all joints and links  -->
  <link name="backpack_layer_2_base_link">
    <inertial>
      <origin rpy="0 0 0" xyz="-0.288351 0 -0.056443"/>
      <mass value="5"/>
      <inertia ixx="0.25636833" ixy="0" ixz="0" iyy="0.30238167" iyz="0" izz="0.55041667"/>
    </inertial>
    <visual>
      <origin rpy="0 0 0" xyz="0 0 0"/>
      <geometry>
        <mesh filename="package://backpack_soto_4_0_description/meshes/layer_base_link.STL"/>
      </geometry>
      <material name="">
        <color rgba="0.752941176470588 0.752941176470588 0.752941176470588 1"/>
      </material>
    </visual>
    <collision>
      <origin rpy="0 0 0" xyz="0 0 0"/>
      <geometry>
        <mesh filename="package://backpack_soto_4_0_description/meshes/layer_base_link.STL"/>
      </geometry>
    </collision>
  </link>
  <!-- left reference exists for both single and double compartments -->
  <link name="backpack_layer_2_left_reference_link"/>
  <joint name="backpack_layer_2_base_to_left_reference" type="fixed">
    <origin rpy="0 0 0" xyz="0.1286 -0.185 -0.0236"/>
    <parent link="backpack_layer_2_base_link"/>
    <child link="backpack_layer_2_left_reference_link"/>
    <axis xyz="0 0 0"/>
  </joint>
  <link name="backpack_layer_2_compartment_0_link">
    <inertial>
      <origin rpy="0 0 0" xyz="-0.3675 0 0.0675"/>
      <mass value="5"/>
      <inertia ixx="0.162635416667" ixy="0" ixz="0" iyy="0.2326875" iyz="0" izz="0.380135416667"/>
    </inertial>
    <collision>
      <!-- Bottom -->
      <origin rpy="0 0 0" xyz="-0.3675 0 -0.0025"/>
      <geometry>
        <box size="0.735 0.61 0.005"/>
      </geometry>
    </collision>
    <collision>
      <!-- Back wall -->
      <origin rpy="0 0 0" xyz="-0.7375 0 0.025"/>
      <geometry>
        <box size="0.005 0.61 0.05"/>
      </geometry>
    </collision>
    <collision>
      <!-- Right wall -->
      <origin rpy="0 0 0" xyz="-0.4015 -0.3075 0.025"/>
      <geometry>
        <box size="0.667 0.005 0.05"/>
      </geometry>
    </collision>
    <collision>
      <!-- Left wall -->
      <origin rpy="0 0 0" xyz="-0.4015 0.3075 0.025"/>
      <geometry>
        <box size="0.667 0.005 0.05"/>
      </geometry>
    </collision>
    <collision>
      <!-- Left stopper bottom -->
      <origin rpy="0 0 0" xyz="0.05 0.185 -0.0025"/>
      <geometry>
        <box size="0.1 0.03 0.005"/>
      </geometry>
    </collision>
    <collision>
      <!-- Left stopper wall -->
      <origin rpy="0 0 0" xyz="0.1025 0.185 0.0095"/>
      <geometry>
        <box size="0.005 0.03 0.019"/>
      </geometry>
    </collision>
    <collision>
      <!-- Right stopper bottom -->
      <origin rpy="0 0 0" xyz="0.05 -0.185 -0.0025"/>
      <geometry>
        <box size="0.1 0.03 0.005"/>
      </geometry>
    </collision>
    <collision>
      <!-- Right stopper wall -->
      <origin rpy="0 0 0" xyz="0.1025 -0.185 0.0095"/>
      <geometry>
        <box size="0.005 0.03 0.019"/>
      </geometry>
    </collision>
    <collision>
      <!-- Right funnel -->
      <origin rpy="0 0 -0.335" xyz="-0.0356438458494 -0.31853917755 0.0675"/>
      <geometry>
        <box size="0.068 0.005 0.135"/>
      </geometry>
    </collision>
    <collision>
      <!-- Left funnel -->
      <origin rpy="0 0 0.335" xyz="-0.0356438458494 0.31853917755 0.0675"/>
      <geometry>
        <box size="0.068 0.005 0.135"/>
      </geometry>
    </collision>
  </link>
  <joint name="backpack_layer_2_compartment_0" type="fixed">
    <origin rpy="0 0 0" xyz="-0.1055 0.185 -0.004"/>
    <parent link="backpack_layer_2_left_reference_link"/>
    <child link="backpack_layer_2_compartment_0_link"/>
  </joint>
  <!-- Connection between layer and pivot bar -->
  <joint name="backpack_layer_2_base_pivot" type="continuous">
    <parent link="backpack_layer_2_link"/>
    <child link="backpack_layer_2_base_link"/>
    <axis xyz="0 1 0"/>
    <mimic joint="backpack_tilt" multiplier="1.0"/>
  </joint>
  <!-- use index to uniquely identify all joints and links  -->
  <link name="backpack_layer_3_base_link">
    <inertial>
      <origin rpy="0 0 0" xyz="-0.288351 0 -0.056443"/>
      <mass value="5"/>
      <inertia ixx="0.25636833" ixy="0" ixz="0" iyy="0.30238167" iyz="0" izz="0.55041667"/>
    </inertial>
    <visual>
      <origin rpy="0 0 0" xyz="0 0 0"/>
      <geometry>
        <mesh filename="package://backpack_soto_4_0_description/meshes/layer_base_link.STL"/>
      </geometry>
      <material name="">
        <color rgba="0.752941176470588 0.752941176470588 0.752941176470588 1"/>
      </material>
    </visual>
    <collision>
      <origin rpy="0 0 0" xyz="0 0 0"/>
      <geometry>
        <mesh filename="package://backpack_soto_4_0_description/meshes/layer_base_link.STL"/>
      </geometry>
    </collision>
  </link>
  <!-- left reference exists for both single and double compartments -->
  <link name="backpack_layer_3_left_reference_link"/>
  <joint name="backpack_layer_3_base_to_left_reference" type="fixed">
    <origin rpy="0 0 0" xyz="0.1286 -0.185 -0.0236"/>
    <parent link="backpack_layer_3_base_link"/>
    <child link="backpack_layer_3_left_reference_link"/>
    <axis xyz="0 0 0"/>
  </joint>
  <link name="backpack_layer_3_compartment_0_link">
    <inertial>
      <origin rpy="0 0 0" xyz="-0.3675 0 0.0675"/>
      <mass value="5"/>
      <inertia ixx="0.162635416667" ixy="0" ixz="0" iyy="0.2326875" iyz="0" izz="0.380135416667"/>
    </inertial>
    <collision>
      <!-- Bottom -->
      <origin rpy="0 0 0" xyz="-0.3675 0 -0.0025"/>
      <geometry>
        <box size="0.735 0.61 0.005"/>
      </geometry>
    </collision>
    <collision>
      <!-- Back wall -->
      <origin rpy="0 0 0" xyz="-0.7375 0 0.025"/>
      <geometry>
        <box size="0.005 0.61 0.05"/>
      </geometry>
    </collision>
    <collision>
      <!-- Right wall -->
      <origin rpy="0 0 0" xyz="-0.4015 -0.3075 0.025"/>
      <geometry>
        <box size="0.667 0.005 0.05"/>
      </geometry>
    </collision>
    <collision>
      <!-- Left wall -->
      <origin rpy="0 0 0" xyz="-0.4015 0.3075 0.025"/>
      <geometry>
        <box size="0.667 0.005 0.05"/>
      </geometry>
    </collision>
    <collision>
      <!-- Left stopper bottom -->
      <origin rpy="0 0 0" xyz="0.05 0.185 -0.0025"/>
      <geometry>
        <box size="0.1 0.03 0.005"/>
      </geometry>
    </collision>
    <collision>
      <!-- Left stopper wall -->
      <origin rpy="0 0 0" xyz="0.1025 0.185 0.0095"/>
      <geometry>
        <box size="0.005 0.03 0.019"/>
      </geometry>
    </collision>
    <collision>
      <!-- Right stopper bottom -->
      <origin rpy="0 0 0" xyz="0.05 -0.185 -0.0025"/>
      <geometry>
        <box size="0.1 0.03 0.005"/>
      </geometry>
    </collision>
    <collision>
      <!-- Right stopper wall -->
      <origin rpy="0 0 0" xyz="0.1025 -0.185 0.0095"/>
      <geometry>
        <box size="0.005 0.03 0.019"/>
      </geometry>
    </collision>
    <collision>
      <!-- Right funnel -->
      <origin rpy="0 0 -0.335" xyz="-0.0356438458494 -0.31853917755 0.0675"/>
      <geometry>
        <box size="0.068 0.005 0.135"/>
      </geometry>
    </collision>
    <collision>
      <!-- Left funnel -->
      <origin rpy="0 0 0.335" xyz="-0.0356438458494 0.31853917755 0.0675"/>
      <geometry>
        <box size="0.068 0.005 0.135"/>
      </geometry>
    </collision>
  </link>
  <joint name="backpack_layer_3_compartment_0" type="fixed">
    <origin rpy="0 0 0" xyz="-0.1055 0.185 -0.004"/>
    <parent link="backpack_layer_3_left_reference_link"/>
    <child link="backpack_layer_3_compartment_0_link"/>
  </joint>
  <!-- Connection between layer and pivot bar -->
  <joint name="backpack_layer_3_base_pivot" type="continuous">
    <parent link="backpack_layer_3_link"/>
    <child link="backpack_layer_3_base_link"/>
    <axis xyz="0 1 0"/>
    <mimic joint="backpack_tilt" multiplier="1.0"/>
  </joint>
  <!-- Add nav_3d_cam_rear -->
  <link name="nav_3d_cam_rear_link">
    <!-- Assumes a (size, size, size) cube link -->
    <inertial>
      <origin xyz="0 0 0"/>
      <mass value="0.018"/>
      <inertia ixx="3e-05" ixy="0" ixz="0" iyy="3e-05" iyz="0" izz="3e-05"/>
    </inertial>
  </link>
  <joint name="nav_3d_cam_rear" type="fixed">
    <origin rpy="-2.50454747661185 5.81433671204338E-13 1.57079632679411" xyz="-0.9042660093438 -0.00299999999998613 1.81374525650981"/>
    <parent link="backpack_base_link"/>
    <child link="nav_3d_cam_rear_link"/>
    <axis xyz="0 0 0"/>
  </joint>
  <!-- start of Optical frames -->
  <link name="nav_3d_cam_rear_depth_optical_frame"/>
  <joint name="nav_3d_cam_rear_depth_optical" type="fixed">
    <origin rpy="0 0 0" xyz="0 0 0"/>
    <parent link="nav_3d_cam_rear_link"/>
    <child link="nav_3d_cam_rear_depth_optical_frame"/>
  </joint>
  <link name="nav_3d_cam_rear_rgb_optical_frame"/>
  <joint name="nav_3d_cam_rear_rgb_optical" type="fixed">
    <origin rpy="0 0 0" xyz="0.0145 0 0"/>
    <parent link="nav_3d_cam_rear_link"/>
    <child link="nav_3d_cam_rear_rgb_optical_frame"/>
  </joint>
  <!-- start of autogenerated component -->
  <link name="backpack_base_link">
    <inertial>
      <origin rpy="0 0 0" xyz="-0.455821265232892 -0.00577757365877395 0.78583802712244"/>
      <mass value="51.1974466568688"/>
      <inertia ixx="18.9816299358231" ixy="-0.0352688472475744" ixz="1.4784509395309" iyy="15.0741956264721" iyz="-0.279200068260086" izz="10.2614463851292"/>
    </inertial>
    <visual>
      <origin rpy="0 0 0" xyz="0 0 0"/>
      <geometry>
        <mesh filename="package://backpack_soto_4_0_description/meshes/backpack_base_link.STL"/>
      </geometry>
      <material name="">
        <color rgba="0.752941176470588 0.752941176470588 0.752941176470588 1"/>
      </material>
    </visual>
    <collision>
      <origin rpy="0 0 0" xyz="0 0 0"/>
      <geometry>
        <mesh filename="package://backpack_soto_4_0_description/meshes/backpack_base_link.STL"/>
      </geometry>
    </collision>
  </link>
  <link name="backpack_tilt_link">
    <!-- Assumes a (size, size, size) cube link -->
    <inertial>
      <origin xyz="0 0 0"/>
      <mass value="1"/>
      <inertia ixx="0.00166666666667" ixy="0" ixz="0" iyy="0.00166666666667" iyz="0" izz="0.00166666666667"/>
    </inertial>
  </link>
  <joint name="backpack_tilt" type="revolute">
    <origin rpy="0 0 0" xyz="0 0 0"/>
    <parent link="backpack_base_link"/>
    <child link="backpack_tilt_link"/>
    <axis xyz="0 1 0"/>
    <limit effort="524.003" lower="-0.15" upper="0.15" velocity="0.750142"/>
  </joint>
  <link name="pivot_bar_link">
    <inertial>
      <origin rpy="0 0 0" xyz="-1.00259564539407E-10 9.6129575046171E-16 0.710864961391751"/>
      <mass value="11.549234708381"/>
      <inertia ixx="2.02376780598256" ixy="-3.76524551976487E-14" ixz="3.06379251428533E-13" iyy="0.166328170735414" iyz="-2.72698530423554E-15" izz="1.85743963524715"/>
    </inertial>
    <visual>
      <origin rpy="0 0 0" xyz="0 0 0"/>
      <geometry>
        <mesh filename="package://backpack_soto_4_0_description/meshes/pivot_bar_link.STL"/>
      </geometry>
      <material name="">
        <color rgba="0.698039215686274 0.698039215686274 0.698039215686274 1"/>
      </material>
    </visual>
    <collision>
      <origin rpy="0 0 0" xyz="0 0 0"/>
      <geometry>
        <mesh filename="package://backpack_soto_4_0_description/meshes/pivot_bar_link.STL"/>
      </geometry>
    </collision>
  </link>
  <joint name="pivot_bar" type="prismatic">
    <origin rpy="0 0 0" xyz="-0.0887264972016103 0 0.147199999999999"/>
    <parent link="backpack_base_link"/>
    <child link="pivot_bar_link"/>
    <axis xyz="0 0 1"/>
    <limit effort="524.003" lower="-0.15" upper="0.15" velocity="0.750142"/>
    <!-- multiplier based off of small angle approximation using 0.38 m axis offset -->
    <mimic joint="backpack_tilt" multiplier="-0.38023"/>
  </joint>
  <link name="backpack_layer_0_link">
    <!-- Assumes a (size, size, size) cube link -->
    <inertial>
      <origin xyz="0 0 0"/>
      <mass value="1"/>
      <inertia ixx="0.00166666666667" ixy="0" ixz="0" iyy="0.00166666666667" iyz="0" izz="0.00166666666667"/>
    </inertial>
  </link>
  <joint name="pivot_bar_to_layer_0" type="fixed">
    <origin rpy="0 0 0" xyz="0 0 0.1545"/>
    <parent link="pivot_bar_link"/>
    <child link="backpack_layer_0_link"/>
    <axis xyz="0 0 0"/>
  </joint>
  <link name="backpack_layer_1_link">
    <!-- Assumes a (size, size, size) cube link -->
    <inertial>
      <origin xyz="0 0 0"/>
      <mass value="1"/>
      <inertia ixx="0.00166666666667" ixy="0" ixz="0" iyy="0.00166666666667" iyz="0" izz="0.00166666666667"/>
    </inertial>
  </link>
  <joint name="pivot_bar_to_layer_1" type="fixed">
    <origin rpy="0 0 0" xyz="0 0 0.5395"/>
    <parent link="pivot_bar_link"/>
    <child link="backpack_layer_1_link"/>
    <axis xyz="0 0 0"/>
  </joint>
  <link name="backpack_layer_2_link">
    <!-- Assumes a (size, size, size) cube link -->
    <inertial>
      <origin xyz="0 0 0"/>
      <mass value="1"/>
      <inertia ixx="0.00166666666667" ixy="0" ixz="0" iyy="0.00166666666667" iyz="0" izz="0.00166666666667"/>
    </inertial>
  </link>
  <joint name="pivot_bar_to_layer_2" type="fixed">
    <origin rpy="0 0 0" xyz="0 0 0.9245"/>
    <parent link="pivot_bar_link"/>
    <child link="backpack_layer_2_link"/>
    <axis xyz="0 0 0"/>
  </joint>
  <link name="backpack_layer_3_link">
    <!-- Assumes a (size, size, size) cube link -->
    <inertial>
      <origin xyz="0 0 0"/>
      <mass value="1"/>
      <inertia ixx="0.00166666666667" ixy="0" ixz="0" iyy="0.00166666666667" iyz="0" izz="0.00166666666667"/>
    </inertial>
  </link>
  <joint name="pivot_bar_to_layer_3" type="fixed">
    <origin rpy="0 0 0" xyz="0 0 1.3095"/>
    <parent link="pivot_bar_link"/>
    <child link="backpack_layer_3_link"/>
    <axis xyz="0 0 0"/>
  </joint>
  <link name="backpack_light_curtain_emitter_link">
    <inertial>
      <origin rpy="0 0 0" xyz="-0.0134507091493996 -5.86724921532477E-05 1.27766254949258E-05"/>
      <mass value="0.639590567420823"/>
      <inertia ixx="0.03084176" ixy="0" ixz="0" iyy="0.00013446" iyz="0" izz="0.03082808"/>
    </inertial>
    <visual>
      <origin rpy="0 0 0" xyz="0 0 0"/>
      <geometry>
        <mesh filename="package://backpack_soto_4_0_description/meshes/backpack_light_curtain_emitter_link.STL"/>
      </geometry>
      <material name="">
        <color rgba="0.792156862745098 0.819607843137255 0.933333333333333 1"/>
      </material>
    </visual>
    <collision>
      <origin rpy="0 0 0" xyz="0 0 0"/>
      <geometry>
        <mesh filename="package://backpack_soto_4_0_description/meshes/backpack_light_curtain_emitter_link.STL"/>
      </geometry>
    </collision>
  </link>
  <joint name="backpack_base_to_light_curtain_emitter" type="fixed">
    <origin rpy="3.14159265358979 1.5707963267949 0" xyz="-0.843726497429714 0.000292062117629333 1.81058017879448"/>
    <parent link="backpack_base_link"/>
    <child link="backpack_light_curtain_emitter_link"/>
    <axis xyz="0 0 0"/>
  </joint>
  <link name="backpack_light_curtain_receiver_link">
    <inertial>
      <origin rpy="0 0 0" xyz="-0.0134506399940098 0.000460652545142309 1.37200510917923E-05"/>
      <mass value="0.639593835683053"/>
      <inertia ixx="0.03084176" ixy="0" ixz="0" iyy="0.00013446" iyz="0" izz="0.03082808"/>
    </inertial>
    <visual>
      <origin rpy="0 0 0" xyz="0 0 0"/>
      <geometry>
        <mesh filename="package://backpack_soto_4_0_description/meshes/backpack_light_curtain_receiver_link.STL"/>
      </geometry>
      <material name="">
        <color rgba="0.792156862745098 0.819607843137255 0.933333333333333 1"/>
      </material>
    </visual>
    <collision>
      <origin rpy="0 0 0" xyz="0 0 0"/>
      <geometry>
        <mesh filename="package://backpack_soto_4_0_description/meshes/backpack_light_curtain_receiver_link.STL"/>
      </geometry>
    </collision>
  </link>
  <joint name="backpack_base_to_light_curtain_receiver" type="fixed">
    <origin rpy="0 -1.5707963267949 0" xyz="-0.84372743857346 0.00130998226353682 0.0849999310700815"/>
    <parent link="backpack_base_link"/>
    <child link="backpack_light_curtain_receiver_link"/>
    <axis xyz="0 0 0"/>
  </joint>
  <link name="charger_connector">
    <inertial>
      <origin rpy="0 0 0" xyz="0 0 0"/>
      <mass value="5"/>
      <inertia ixx="0.05208333" ixy="0" ixz="0" iyy="0.0262001" iyz="0" izz="0.0262001"/>
    </inertial>
    <visual>
      <origin rpy="0 0 0" xyz="0 0 0"/>
      <geometry>
        <mesh filename="package://backpack_soto_4_0_description/meshes/charger_connector.STL"/>
      </geometry>
      <material name="">
        <color rgba="1 1 1 1"/>
      </material>
    </visual>
    <collision>
      <origin rpy="0 0 0" xyz="0 0 0"/>
      <geometry>
        <mesh filename="package://backpack_soto_4_0_description/meshes/charger_connector.STL"/>
      </geometry>
    </collision>
  </link>
  <joint name="backpack_base_to_charger_connector" type="fixed">
    <origin rpy="-1.5707963267949 5.14278077834825E-16 1.5707963267949" xyz="-0.359627649604358 0.5109 0.279949443858408"/>
    <parent link="backpack_base_link"/>
    <child link="charger_connector"/>
    <axis xyz="0 0 0"/>
  </joint>
  <joint name="gripper_rotate" type="revolute">
    <origin rpy="0 0 0" xyz="0.42 -0.378 -0.1425"/>
    <parent link="gripper_carrier_frame_link"/>
    <child link="gripper_base_link"/>
    <axis xyz="0 0 1"/>
    <limit effort="18.0" lower="-1.62316" upper="3.19395" velocity="1.84078"/>
  </joint>
  <!-- start of manually added component -->
  <link name="gripper_casing_link">
    <inertial>
      <origin rpy="0 0 0" xyz="0.0566248951556863 -2.00332299900564E-06 0.0887482618543158"/>
      <mass value="1.89695657621472"/>
      <inertia ixx="0.161916446032723" ixy="-1.36885644157184E-06" ixz="-0.00162211448512088" iyy="0.0361164097412647" iyz="2.44138906904143E-07" izz="0.19593677406372"/>
    </inertial>
    <visual>
      <origin rpy="0 0 0" xyz="0 0 0"/>
      <geometry>
        <mesh filename="package://conveyor_gripper_1_0_description/meshes/gripper_casing_link.STL"/>
      </geometry>
      <material name="">
        <color rgba="0.698039215686274 0.698039215686274 0.698039215686274 1"/>
      </material>
    </visual>
    <collision>
      <origin rpy="0 0 0" xyz="0 0 0"/>
      <geometry>
        <mesh filename="package://conveyor_gripper_1_0_description/meshes/gripper_casing_link.STL"/>
      </geometry>
    </collision>
  </link>
  <joint name="gripper_base_to_casing" type="fixed">
    <!-- TODO: fix gripper_base_duplicate in 1015005 -->
    <origin rpy="0 0 0" xyz="-0.3105 0 0.0335"/>
    <parent link="gripper_base_link"/>
    <child link="gripper_casing_link"/>
  </joint>
  <!-- start of Optical frames -->
  <link name="gripper_depth_camera_link">
    <!-- Assumes a (size, size, size) cube link -->
    <inertial>
      <origin xyz="0 0 0"/>
      <mass value="0.1"/>
      <inertia ixx="0.000166666666667" ixy="0" ixz="0" iyy="0.000166666666667" iyz="0" izz="0.000166666666667"/>
    </inertial>
    <visual>
      <origin rpy="0 0 0" xyz="0 0 0"/>
      <geometry>
        <mesh filename="package://conveyor_gripper_1_0_description/meshes/gripper_depth_camera_link.STL"/>
      </geometry>
      <material name="">
        <color rgba="1 1 1 1"/>
      </material>
    </visual>
  </link>
  <joint name="gripper_base_to_depth_camera" type="fixed">
    <origin rpy="1.22173047639602 -1.14748667623603E-15 1.57079632679489" xyz="-0.44287 0.0055 0.23766"/>
    <parent link="gripper_base_link"/>
    <child link="gripper_depth_camera_link"/>
  </joint>
  <link name="gripper_depth_camera_depth_optical_frame"/>
  <joint name="gripper_depth_camera_depth_optical" type="fixed">
    <origin rpy="0 0 0" xyz="0 0 0"/>
    <parent link="gripper_depth_camera_link"/>
    <child link="gripper_depth_camera_depth_optical_frame"/>
  </joint>
  <link name="gripper_depth_camera_rgb_optical_frame"/>
  <joint name="gripper_depth_camera_rgb_optical" type="fixed">
    <origin rpy="0 0 0" xyz="0.0145 0 0"/>
    <parent link="gripper_depth_camera_link"/>
    <child link="gripper_depth_camera_rgb_optical_frame"/>
  </joint>
  <!-- start of autogenerated component -->
  <link name="gripper_base_link">
    <inertial>
      <origin rpy="0 0 0" xyz="-0.0291964947014054 0.00185928064465478 0.0571112330957645"/>
      <mass value="4.43604003962018"/>
      <inertia ixx="0.00848228102782677" ixy="-0.00397948149068779" ixz="-0.000197943829855595" iyy="0.0294439378703873" iyz="-4.43345350995509E-05" izz="0.0375329931767107"/>
    </inertial>
    <visual>
      <origin rpy="0 0 0" xyz="0 0 0"/>
      <geometry>
        <mesh filename="package://conveyor_gripper_1_0_description/meshes/gripper_base_link.STL"/>
      </geometry>
      <material name="">
        <color rgba="1 1 1 1"/>
      </material>
    </visual>
    <collision>
      <origin rpy="0 0 0" xyz="0 0 0"/>
      <geometry>
        <mesh filename="package://conveyor_gripper_1_0_description/meshes/gripper_base_link.STL"/>
      </geometry>
    </collision>
  </link>
  <link name="gripper_base_x_link">
    <!-- Assumes a (size, size, size) cube link -->
    <inertial>
      <origin xyz="0 0 0"/>
      <mass value="1.0"/>
      <inertia ixx="0.00166666666667" ixy="0" ixz="0" iyy="0.00166666666667" iyz="0" izz="0.00166666666667"/>
    </inertial>
    <visual>
      <origin rpy="0 0 0" xyz="0 0 0"/>
      <geometry>
        <mesh filename="package://conveyor_gripper_1_0_description/meshes/gripper_base_x_link.STL"/>
      </geometry>
      <material name="">
        <color rgba="0.752941176470588 0.752941176470588 0.752941176470588 1"/>
      </material>
    </visual>
    <collision>
      <origin rpy="0 0 0" xyz="0 0 0"/>
      <geometry>
        <mesh filename="package://conveyor_gripper_1_0_description/meshes/gripper_base_x_link.STL"/>
      </geometry>
    </collision>
  </link>
  <joint name="gripper_base_x" type="prismatic">
    <origin rpy="0 0 0" xyz="-0.3105 0 0.0334999999999999"/>
    <parent link="gripper_base_link"/>
    <child link="gripper_base_x_link"/>
    <axis xyz="1 0 0"/>
    <limit effort="149.65" lower="0.002" upper="0.359" velocity="0.296"/>
  </joint>
  <!-- start of manually added component -->
  <joint name="gripper_base_x_to_lateral_frame" type="fixed">
    <origin rpy="0 0 0" xyz="0.16682 0.00254 0.09900"/>
    <parent link="gripper_base_x_link"/>
    <child link="gripper_lateral_frame_link"/>
    <axis xyz="0 0 0"/>
  </joint>
  <!-- intersection between left/right foremost point axis and gripper_y XY plane -->
  <link name="gripper_surface_tip_link"/>
  <joint name="gripper_lateral_base_to_surface_tip" type="fixed">
    <origin rpy="0 0 0" xyz="0.5286 0 0.09824"/>
    <parent link="gripper_lateral_frame_link"/>
    <child link="gripper_surface_tip_link"/>
  </joint>
  <!-- start of autogenerated component -->
  <link name="gripper_lateral_frame_link">
    <inertial>
      <origin rpy="0 0 0" xyz="0.0109523584667708 -0.00213924832383244 -0.0127104571800313"/>
      <mass value="9.06374767181828"/>
      <inertia ixx="0.152907857864764" ixy="-0.000359950628530387" ixz="-0.00123889187432906" iyy="0.0557080358972366" iyz="-0.000575501671994657" izz="0.206424853480047"/>
    </inertial>
    <visual>
      <origin rpy="0 0 0" xyz="0 0 0"/>
      <geometry>
        <mesh filename="package://conveyor_gripper_1_0_description/meshes/gripper_lateral_frame_link.STL"/>
      </geometry>
      <material name="">
        <color rgba="0.752941176470588 0.752941176470588 0.752941176470588 1"/>
      </material>
    </visual>
    <collision>
      <origin rpy="0 0 0" xyz="0 0 0"/>
      <geometry>
        <mesh filename="package://conveyor_gripper_1_0_description/meshes/gripper_lateral_frame_link.STL"/>
      </geometry>
    </collision>
  </link>
  <link name="gripper_y_right_link">
    <inertial>
      <origin rpy="0 0 0" xyz="0.00354228739566675 -0.0287875724844683 -0.0242552174069289"/>
      <mass value="0.327260297311246"/>
      <inertia ixx="0.000196526493426853" ixy="-2.29379028088093E-05" ixz="7.56584769951965E-05" iyy="0.000210428427291072" iyz="4.8646299306573E-05" izz="5.22867445641922E-05"/>
    </inertial>
    <visual>
      <origin rpy="0 0 0" xyz="0 0 0"/>
      <geometry>
        <mesh filename="package://conveyor_gripper_1_0_description/meshes/gripper_y_right_link.STL"/>
      </geometry>
      <material name="">
        <color rgba="0.698039215686274 0.698039215686274 0.698039215686274 1"/>
      </material>
    </visual>
    <collision>
      <origin rpy="0 0 0" xyz="0 0 0"/>
      <geometry>
        <mesh filename="package://conveyor_gripper_1_0_description/meshes/gripper_y_right_link.STL"/>
      </geometry>
    </collision>
  </link>
  <joint name="gripper_y_right" type="prismatic">
    <origin rpy="0 0 0" xyz="-0.1895 -0.291 0.0768"/>
    <parent link="gripper_lateral_frame_link"/>
    <child link="gripper_y_right_link"/>
    <axis xyz="0 1 0"/>
    <limit effort="36.9721" lower="0.002" upper="0.498" velocity="0.414175"/>
  </joint>
  <link name="gripper_y_right_dist_x_sensor">
    <!-- Assumes a (size, size, size) cube link -->
    <inertial>
      <origin xyz="0 0 0"/>
      <mass value="0.206"/>
      <inertia ixx="0.000343333333333" ixy="0" ixz="0" iyy="0.000343333333333" iyz="0" izz="0.000343333333333"/>
    </inertial>
    <visual>
      <origin rpy="0 0 0" xyz="0 0 0"/>
      <geometry>
        <mesh filename="package://conveyor_gripper_1_0_description/meshes/gripper_y_right_dist_x_sensor.STL"/>
      </geometry>
      <material name="">
        <color rgba="1 1 1 1"/>
      </material>
    </visual>
  </link>
  <joint name="gripper_y_right_to_dist_x_sensor" type="fixed">
    <origin rpy="1.5707963267949 8.45933770995668E-16 1.72247079380644E-16" xyz="-0.000773072340143593 -0.0340048054495324 0.0292"/>
    <parent link="gripper_y_right_link"/>
    <child link="gripper_y_right_dist_x_sensor"/>
    <axis xyz="0 0 0"/>
  </joint>
  <link name="gripper_y_left_link">
    <inertial>
      <origin rpy="0 0 0" xyz="0.00355881845944125 -0.0392124275155317 -0.0242552174069289"/>
      <mass value="0.327260297311246"/>
      <inertia ixx="0.000196526493426853" ixy="2.2946784360994E-05" ixz="7.58716206094717E-05" iyy="0.000210573949255188" iyz="-4.86462993065728E-05" izz="5.24322665283085E-05"/>
    </inertial>
    <visual>
      <origin rpy="0 0 0" xyz="0 0 0"/>
      <geometry>
        <mesh filename="package://conveyor_gripper_1_0_description/meshes/gripper_y_left_link.STL"/>
      </geometry>
      <material name="">
        <color rgba="1 1 1 1"/>
      </material>
    </visual>
    <collision>
      <origin rpy="0 0 0" xyz="0 0 0"/>
      <geometry>
        <mesh filename="package://conveyor_gripper_1_0_description/meshes/gripper_y_left_link.STL"/>
      </geometry>
    </collision>
  </link>
  <joint name="gripper_y_left" type="prismatic">
    <origin rpy="0 0 0" xyz="-0.1895 0.359 0.0768"/>
    <parent link="gripper_lateral_frame_link"/>
    <child link="gripper_y_left_link"/>
    <axis xyz="0 -1 0"/>
    <limit effort="36.9721" lower="0.002" upper="0.498" velocity="0.414175"/>
  </joint>
  <link name="gripper_y_left_dist_x_sensor">
    <!-- Assumes a (size, size, size) cube link -->
    <inertial>
      <origin xyz="0 0 0"/>
      <mass value="0.206"/>
      <inertia ixx="0.000343333333333" ixy="0" ixz="0" iyy="0.000343333333333" iyz="0" izz="0.000343333333333"/>
    </inertial>
    <visual>
      <origin rpy="0 0 0" xyz="0 0 0"/>
      <geometry>
        <mesh filename="package://conveyor_gripper_1_0_description/meshes/gripper_y_left_dist_x_sensor.STL"/>
      </geometry>
      <material name="">
        <color rgba="1 1 1 1"/>
      </material>
    </visual>
  </link>
  <joint name="gripper_y_left_to_dist_x_sensor" type="fixed">
    <origin rpy="-1.5707963267949 2.6257874588619E-16 4.90441639395184E-17" xyz="-0.00077307234014351 -0.0339951945504676 0.0292"/>
    <parent link="gripper_y_left_link"/>
    <child link="gripper_y_left_dist_x_sensor"/>
    <axis xyz="0 0 0"/>
  </joint>
  <!-- start of manually added component -->
  <joint name="gripper_y_right_to_belt_right" type="fixed">
    <parent link="gripper_y_right_link"/>
    <child link="conveyor_belt_right_base_link"/>
  </joint>
  <!-- prismatic joint travelling along conveyor belt plane -->
  <link name="conveyor_belt_right_link">
    <!-- Assumes a (size, size, size) cube link -->
    <inertial>
      <origin xyz="0 0 0"/>
      <mass value="0.5"/>
      <inertia ixx="0.000833333333333" ixy="0" ixz="0" iyy="0.000833333333333" iyz="0" izz="0.000833333333333"/>
    </inertial>
  </link>
  <joint name="conveyor_belt_right" type="prismatic">
    <origin rpy="0 0 0" xyz="0 0 0"/>
    <parent link="conveyor_belt_right_surface_foremost_link"/>
    <child link="conveyor_belt_right_link"/>
    <axis xyz="-1 0 0"/>
    <!-- TODO: swap limit out for macro from dimensioning notebook -->
    <limit effort="30" lower="0" upper="0.60" velocity="1"/>
  </joint>
  <!-- start of autogenerated component -->
  <link name="conveyor_belt_right_base_link">
    <inertial>
      <origin rpy="0 0 0" xyz="0.353839700449319 -0.0342492002501805 -0.0100000000278072"/>
      <mass value="1.75237629293966"/>
      <inertia ixx="0.00106107197657959" ixy="3.25747306440015E-06" ixz="3.63423703976073E-13" iyy="0.0518565044065418" iyz="-3.83928274166947E-14" izz="0.0519817058628901"/>
    </inertial>
    <visual>
      <origin rpy="0 0 0" xyz="0 0 0"/>
      <geometry>
        <mesh filename="package://conveyor_gripper_1_0_description/meshes/conveyor_belt_right_base_link.STL"/>
      </geometry>
      <material name="">
        <color rgba="0.698039215686274 0.698039215686274 0.698039215686274 1"/>
      </material>
    </visual>
    <collision>
      <origin rpy="0 0 0" xyz="0 0 0"/>
      <geometry>
        <mesh filename="package://conveyor_gripper_1_0_description/meshes/conveyor_belt_right_base_link.STL"/>
      </geometry>
    </collision>
  </link>
  <link name="conveyor_belt_right_foremost_link"/>
  <joint name="belt_right_base_to_foremost" type="fixed">
    <origin rpy="0 0 0" xyz="0.718038238155445 -0.0339999999950005 0.02174"/>
    <parent link="conveyor_belt_right_base_link"/>
    <child link="conveyor_belt_right_foremost_link"/>
    <axis xyz="0 0 0"/>
  </joint>
  <link name="conveyor_belt_right_surface_foremost_link">
    <!-- Assumes a (size, size, size) cube link -->
    <inertial>
      <origin xyz="0 0 0"/>
      <mass value="0.01"/>
      <inertia ixx="1.66666666667e-05" ixy="0" ixz="0" iyy="1.66666666667e-05" iyz="0" izz="1.66666666667e-05"/>
    </inertial>
  </link>
  <joint name="belt_right_base_to_surface_foremost" type="fixed">
    <origin rpy="0 0 0" xyz="0.686298238155445 -0.0339999999950005 0.02174"/>
    <parent link="conveyor_belt_right_base_link"/>
    <child link="conveyor_belt_right_surface_foremost_link"/>
    <axis xyz="0 0 0"/>
  </joint>
  <!-- start of manually added component -->
  <joint name="gripper_y_left_to_belt" type="fixed">
    <parent link="gripper_y_left_link"/>
    <child link="conveyor_belt_left_base_link"/>
  </joint>
  <!-- prismatic joint travelling along conveyor belt plane -->
  <link name="conveyor_belt_left_link">
    <!-- Assumes a (size, size, size) cube link -->
    <inertial>
      <origin xyz="0 0 0"/>
      <mass value="0.5"/>
      <inertia ixx="0.000833333333333" ixy="0" ixz="0" iyy="0.000833333333333" iyz="0" izz="0.000833333333333"/>
    </inertial>
  </link>
  <joint name="conveyor_belt_left" type="prismatic">
    <origin rpy="0 0 0" xyz="0 0 0"/>
    <parent link="conveyor_belt_left_surface_foremost_link"/>
    <child link="conveyor_belt_left_link"/>
    <axis xyz="-1 0 0"/>
    <!-- TODO: swap limit out for macro from dimensioning notebook -->
    <limit effort="30" lower="0" upper="0.60" velocity="1"/>
  </joint>
  <!-- start of autogenerated component -->
  <link name="conveyor_belt_left_base_link">
    <inertial>
      <origin rpy="0 0 0" xyz="0.351579454282733 -0.0337525735461215 -0.00999999997239077"/>
      <mass value="1.76493912170865"/>
      <inertia ixx="0.00108186929664942" ixy="-4.24450588331179E-06" ixz="-4.73563126814083E-13" iyy="0.0531142162231874" iyz="-3.84792553638102E-14" izz="0.0532602149996055"/>
    </inertial>
    <visual>
      <origin rpy="0 0 0" xyz="0 0 0"/>
      <geometry>
        <mesh filename="package://conveyor_gripper_1_0_description/meshes/conveyor_belt_left_base_link.STL"/>
      </geometry>
      <material name="">
        <color rgba="1 1 1 1"/>
      </material>
    </visual>
    <collision>
      <origin rpy="0 0 0" xyz="0 0 0"/>
      <geometry>
        <mesh filename="package://conveyor_gripper_1_0_description/meshes/conveyor_belt_left_base_link.STL"/>
      </geometry>
    </collision>
  </link>
  <link name="conveyor_belt_left_foremost_link"/>
  <joint name="base_left_to_foremost" type="fixed">
    <origin rpy="0 0 0" xyz="0.718038238155445 -0.0339999999950005 0.02174"/>
    <parent link="conveyor_belt_left_base_link"/>
    <child link="conveyor_belt_left_foremost_link"/>
    <axis xyz="0 0 0"/>
  </joint>
  <link name="conveyor_belt_left_surface_foremost_link">
    <!-- Assumes a (size, size, size) cube link -->
    <inertial>
      <origin xyz="0 0 0"/>
      <mass value="0.01"/>
      <inertia ixx="1.66666666667e-05" ixy="0" ixz="0" iyy="1.66666666667e-05" iyz="0" izz="1.66666666667e-05"/>
    </inertial>
  </link>
  <joint name="belt_left_to_surface_foremost" type="fixed">
    <origin rpy="0 0 0" xyz="0.686298238155445 -0.0339999999950005 0.02174"/>
    <parent link="conveyor_belt_left_base_link"/>
    <child link="conveyor_belt_left_surface_foremost_link"/>
    <axis xyz="0 0 0"/>
  </joint>
  <link name="conveyor_belt_left_barcode_camera">
    <!-- Assumes a (size, size, size) cube link -->
    <inertial>
      <origin xyz="0 0 0"/>
      <mass value="0.1"/>
      <inertia ixx="0.000166666666667" ixy="0" ixz="0" iyy="0.000166666666667" iyz="0" izz="0.000166666666667"/>
    </inertial>
    <visual>
      <origin rpy="0 0 0" xyz="0 0 0"/>
      <geometry>
        <mesh filename="package://conveyor_gripper_1_0_description/meshes/conveyor_belt_left_barcode_camera.STL"/>
      </geometry>
      <material name="">
        <color rgba="1 1 1 1"/>
      </material>
    </visual>
  </link>
  <joint name="conveyor_base_left_to_barcode_camera" type="fixed">
    <!-- TODO: add option for calibrating barcode camera -->
    <origin rpy="1.3660676472658 0.00532358718963196 1.38245094245529" xyz="0.260007017149422 -0.122391992222825 -0.0116598009191592"/>
    <parent link="conveyor_belt_left_base_link"/>
    <child link="conveyor_belt_left_barcode_camera"/>
    <axis xyz="0 0 0"/>
  </joint>
  <link name="conveyor_belt_left_reflective_sensor">
    <!-- Assumes a (size, size, size) cube link -->
    <inertial>
      <origin xyz="0 0 0"/>
      <mass value="0.07"/>
      <inertia ixx="0.000116666666667" ixy="0" ixz="0" iyy="0.000116666666667" iyz="0" izz="0.000116666666667"/>
    </inertial>
    <visual>
      <origin rpy="0 0 0" xyz="0 0 0"/>
      <geometry>
        <mesh filename="package://conveyor_gripper_1_0_description/meshes/conveyor_belt_left_reflective_sensor.STL"/>
      </geometry>
      <material name="">
        <color rgba="1 1 1 1"/>
      </material>
    </visual>
  </link>
  <joint name="conveyor_belt_left_base_to_reflective" type="fixed">
    <origin rpy="-1.5707963267949 1.45855003581176E-16 -5.73827871115263E-16" xyz="0.242349119077722 -0.0938499999900007 -0.0408000000099999"/>
    <parent link="conveyor_belt_left_base_link"/>
    <child link="conveyor_belt_left_reflective_sensor"/>
    <axis xyz="0 0 0"/>
  </joint>
  <link name="conveyor_belt_left_safety_dist_sensor">
    <!-- Assumes a (size, size, size) cube link -->
    <inertial>
      <origin xyz="0 0 0"/>
      <mass value="0.206"/>
      <inertia ixx="0.000343333333333" ixy="0" ixz="0" iyy="0.000343333333333" iyz="0" izz="0.000343333333333"/>
    </inertial>
    <visual>
      <origin rpy="0 0 0" xyz="0 0 0"/>
      <geometry>
        <mesh filename="package://conveyor_gripper_1_0_description/meshes/conveyor_belt_left_safety_dist_sensor.STL"/>
      </geometry>
      <material name="">
        <color rgba="1 1 1 1"/>
      </material>
    </visual>
  </link>
  <joint name="conveyor_belt_left_base_to_safety_dist" type="fixed">
    <origin rpy="0 0 0" xyz="0.224026046737579 -0.0922499999900007 -0.0129951945604675"/>
    <parent link="conveyor_belt_left_base_link"/>
    <child link="conveyor_belt_left_safety_dist_sensor"/>
    <axis xyz="0 0 0"/>
  </joint>
  <joint name="press_base_to_manipulator_base" type="fixed">
    <origin rpy="0 0 0" xyz="0 0 1.9965"/>
    <parent link="manipulator_base_link"/>
    <child link="press_base_link"/>
  </joint>
  <!-- use for the mimics -->
  <link name="press_jaw_link">
    <inertial>
      <origin rpy="0 0 0" xyz="0.000015 -0.007431 0.049507"/>
      <mass value="2.0"/>
      <inertia ixx="0.0192083" ixy="0.0" ixz="0.0" iyy="0.4744167" iyz="0.0" izz="0.4635417"/>
    </inertial>
    <collision>
      <origin rpy="0 0 0" xyz="0 0 0"/>
      <geometry>
        <mesh filename="package://klt_press_1_0_description/meshes/press_jaw_right_link.STL"/>
      </geometry>
    </collision>
  </link>
  <joint name="press_jaw" type="prismatic">
    <origin rpy="0 0 0" xyz="0 -0.319 -0.135"/>
    <parent link="press_base_link"/>
    <child link="press_jaw_link"/>
    <axis xyz="0 1 0"/>
    <limit effort="557.947" lower="0.001" upper="0.23" velocity="0.0233333"/>
  </joint>
  <!-- start of Optical frames -->
  <link name="press_depth_camera_depth_optical_frame"/>
  <joint name="press_depth_camera_depth_optical" type="fixed">
    <origin rpy="0 0 0" xyz="0 0 0"/>
    <parent link="press_depth_camera_link"/>
    <child link="press_depth_camera_depth_optical_frame"/>
  </joint>
  <link name="press_depth_camera_rgb_optical_frame"/>
  <joint name="press_depth_camera_rgb_optical" type="fixed">
    <origin rpy="0 0 0" xyz="0.0145 0 0"/>
    <parent link="press_depth_camera_link"/>
    <child link="press_depth_camera_rgb_optical_frame"/>
  </joint>
  <!-- Start of autogenerated component -->
  <link name="press_base_link">
    <inertial>
      <origin rpy="0 0 0" xyz="0.000372 0.000122 -0.006491"/>
      <mass value="10.0"/>
      <inertia ixx="5.3921333" ixy="0.0" ixz="0.0" iyy="2.8044333" iyz="0.0" izz="8.0789667"/>
    </inertial>
    <visual>
      <origin rpy="0 0 0" xyz="0 0 0"/>
      <geometry>
        <mesh filename="package://klt_press_1_0_description/meshes/press_base_link.STL"/>
      </geometry>
      <material name="">
        <color rgba="0.698039215686274 0.698039215686274 0.698039215686274 1"/>
      </material>
    </visual>
    <collision>
      <origin rpy="0 0 0" xyz="0 0 0"/>
      <geometry>
        <mesh filename="package://klt_press_1_0_description/meshes/press_base_link.STL"/>
      </geometry>
    </collision>
  </link>
  <link name="press_jaw_right_link">
    <inertial>
      <origin rpy="0 0 0" xyz="0.000015 -0.007431 0.049507"/>
      <mass value="2.0"/>
      <inertia ixx="0.0192083" ixy="0.0" ixz="0.0" iyy="0.4744167" iyz="0.0" izz="0.4635417"/>
    </inertial>
    <visual>
      <origin rpy="0 0 0" xyz="0 0 0"/>
      <geometry>
        <mesh filename="package://klt_press_1_0_description/meshes/press_jaw_right_link.STL"/>
      </geometry>
      <material name="">
        <color rgba="0.250980392156863 0.250980392156863 0.250980392156863 1"/>
      </material>
    </visual>
  </link>
  <joint name="press_base_to_jaw_right" type="prismatic">
    <origin rpy="1.18057130309098E-16 4.52630720180711E-33 -3.83399731126472E-17" xyz="0 -0.319 -0.135"/>
    <parent link="press_base_link"/>
    <child link="press_jaw_right_link"/>
    <limit effort="557.947" lower="0.001" upper="0.23" velocity="0.0233333"/>
    <mimic joint="press_jaw" multiplier="1.0"/>
    <axis xyz="0 1 0"/>
  </joint>
  <link name="press_jaw_left_link">
    <inertial>
      <origin rpy="0 0 0" xyz="0.000015 -0.007431 0.049507"/>
      <mass value="2.0"/>
      <inertia ixx="0.0192083" ixy="0.0" ixz="0.0" iyy="0.4744167" iyz="0.0" izz="0.4635417"/>
    </inertial>
    <visual>
      <origin rpy="0 0 0" xyz="0 0 0"/>
      <geometry>
        <mesh filename="package://klt_press_1_0_description/meshes/press_jaw_left_link.STL"/>
      </geometry>
      <material name="">
        <color rgba="0.698039215686274 0.698039215686274 0.698039215686274 1"/>
      </material>
    </visual>
    <collision>
      <origin rpy="0 0 0" xyz="0 0 0"/>
      <geometry>
        <mesh filename="package://klt_press_1_0_description/meshes/press_jaw_left_link.STL"/>
      </geometry>
    </collision>
  </link>
  <joint name="press_base_to_jaw_left" type="prismatic">
    <origin rpy="0 0 3.14159265358979" xyz="0 0.319 -0.135"/>
    <parent link="press_base_link"/>
    <child link="press_jaw_left_link"/>
    <limit effort="557.947" lower="0.001" upper="0.23" velocity="0.0233333"/>
    <mimic joint="press_jaw" multiplier="1.0"/>
    <axis xyz="0 1 0"/>
  </joint>
  <link name="press_light_barrier_rear_receiver_link">
    <!-- Assumes a (size, size, size) cube link -->
    <inertial>
      <origin xyz="0 0 0"/>
      <mass value="0.03"/>
      <inertia ixx="5e-05" ixy="0" ixz="0" iyy="5e-05" iyz="0" izz="5e-05"/>
    </inertial>
    <visual>
      <origin rpy="0 0 0" xyz="0 0 0"/>
      <geometry>
        <mesh filename="package://klt_press_1_0_description/meshes/press_light_barrier_rear_receiver_link.STL"/>
      </geometry>
      <material name="">
        <color rgba="1 1 1 1"/>
      </material>
    </visual>
  </link>
  <joint name="press_to_rear_receiver" type="fixed">
    <origin rpy="-1.5707963267949 0 1.5707963267949" xyz="-0.09005 -0.34683 -0.1102"/>
    <parent link="press_base_link"/>
    <child link="press_light_barrier_rear_receiver_link"/>
    <axis xyz="0 0 0"/>
  </joint>
  <link name="press_light_barrier_front_receiver_link">
    <!-- Assumes a (size, size, size) cube link -->
    <inertial>
      <origin xyz="0 0 0"/>
      <mass value="0.03"/>
      <inertia ixx="5e-05" ixy="0" ixz="0" iyy="5e-05" iyz="0" izz="5e-05"/>
    </inertial>
    <visual>
      <origin rpy="0 0 0" xyz="0 0 0"/>
      <geometry>
        <mesh filename="package://klt_press_1_0_description/meshes/press_light_barrier_front_receiver_link.STL"/>
      </geometry>
      <material name="">
        <color rgba="1 1 1 1"/>
      </material>
    </visual>
  </link>
  <joint name="press_to_front_receiver" type="fixed">
    <origin rpy="-1.5707963267949 -1.51635886423709E-33 1.5707963267949" xyz="0.09005 -0.34683 -0.1102"/>
    <parent link="press_base_link"/>
    <child link="press_light_barrier_front_receiver_link"/>
    <axis xyz="0 0 0"/>
  </joint>
  <link name="press_light_barrier_rear_emitter_link">
    <!-- Assumes a (size, size, size) cube link -->
    <inertial>
      <origin xyz="0 0 0"/>
      <mass value="0.03"/>
      <inertia ixx="5e-05" ixy="0" ixz="0" iyy="5e-05" iyz="0" izz="5e-05"/>
    </inertial>
    <visual>
      <origin rpy="0 0 0" xyz="0 0 0"/>
      <geometry>
        <mesh filename="package://klt_press_1_0_description/meshes/press_light_barrier_rear_emitter_link.STL"/>
      </geometry>
      <material name="">
        <color rgba="1 1 1 1"/>
      </material>
    </visual>
  </link>
  <joint name="press_to_rear_emitter" type="fixed">
    <origin rpy="-1.5707963267949 0 -1.5707963267949" xyz="-0.090049999999999 0.34683 -0.1102"/>
    <parent link="press_base_link"/>
    <child link="press_light_barrier_rear_emitter_link"/>
    <axis xyz="0 0 0"/>
  </joint>
  <link name="press_light_barrier_front_emitter_link">
    <!-- Assumes a (size, size, size) cube link -->
    <inertial>
      <origin xyz="0 0 0"/>
      <mass value="0.03"/>
      <inertia ixx="5e-05" ixy="0" ixz="0" iyy="5e-05" iyz="0" izz="5e-05"/>
    </inertial>
    <visual>
      <origin rpy="0 0 0" xyz="0 0 0"/>
      <geometry>
        <mesh filename="package://klt_press_1_0_description/meshes/press_light_barrier_front_emitter_link.STL"/>
      </geometry>
      <material name="">
        <color rgba="1 1 1 1"/>
      </material>
    </visual>
  </link>
  <joint name="press_to_front_emitter" type="fixed">
    <origin rpy="-1.5707963267949 0 -1.5707963267949" xyz="0.090050000000001 0.34683 -0.1102"/>
    <parent link="press_base_link"/>
    <child link="press_light_barrier_front_emitter_link"/>
    <axis xyz="0 0 0"/>
  </joint>
  <link name="press_upper_limit_link">
    <!-- Assumes a (size, size, size) cube link -->
    <inertial>
      <origin xyz="0 0 0"/>
      <mass value="0.1"/>
      <inertia ixx="0.000166666666667" ixy="0" ixz="0" iyy="0.000166666666667" iyz="0" izz="0.000166666666667"/>
    </inertial>
  </link>
  <joint name="press_base_to_upper_limit" type="fixed">
    <origin rpy="0 0 0" xyz="0 0 -0.083"/>
    <parent link="press_base_link"/>
    <child link="press_upper_limit_link"/>
    <axis xyz="0 0 0"/>
  </joint>
  <link name="press_depth_camera_link">
    <!-- Assumes a (size, size, size) cube link -->
    <inertial>
      <origin xyz="0 0 0"/>
      <mass value="0.1"/>
      <inertia ixx="0.000166666666667" ixy="0" ixz="0" iyy="0.000166666666667" iyz="0" izz="0.000166666666667"/>
    </inertial>
    <visual>
      <origin rpy="0 0 0" xyz="0 0 0"/>
      <geometry>
        <mesh filename="package://klt_press_1_0_description/meshes/press_depth_camera_link.STL"/>
      </geometry>
      <material name="">
        <color rgba="1 1 1 1"/>
      </material>
    </visual>
  </link>
  <joint name="press_base_to_depth_camera" type="fixed">
    <origin rpy="-3.14159265358979 -5.28214878924751E-16 1.57079480536764" xyz="0.135499920277204 -0.0200000104977874 -0.0148"/>
    <parent link="press_base_link"/>
    <child link="press_depth_camera_link"/>
    <axis xyz="0 0 0"/>
  </joint>
  <joint name="base_to_design_elements" type="fixed">
    <parent link="base_link"/>
    <child link="design_elements_link"/>
  </joint>
  <link name="design_elements_link">
    <inertial>
      <origin rpy="0 0 0" xyz="-0.0839888788296438 -4.7711093603331E-05 0.967007714134433"/>
      <mass value="36.5366910563565"/>
      <inertia ixx="21.8912953115095" ixy="0.0732488950261167" ixz="1.26489469855065" iyy="32.0624509778293" iyz="0.00112967341454037" izz="22.9076113690761"/>
    </inertial>
    <visual>
      <origin rpy="0 0 0" xyz="0 0 0"/>
      <geometry>
        <mesh filename="package://soto_2_0_description/meshes/design_elements_link.STL"/>
      </geometry>
      <material name="">
        <color rgba="0.698039215686274 0.698039215686274 0.698039215686274 1"/>
      </material>
    </visual>
    <collision>
      <origin rpy="0 0 0" xyz="0 0 0"/>
      <geometry>
        <mesh filename="package://soto_2_0_description/meshes/design_elements_link.STL"/>
      </geometry>
    </collision>
  </link>
</robot>
